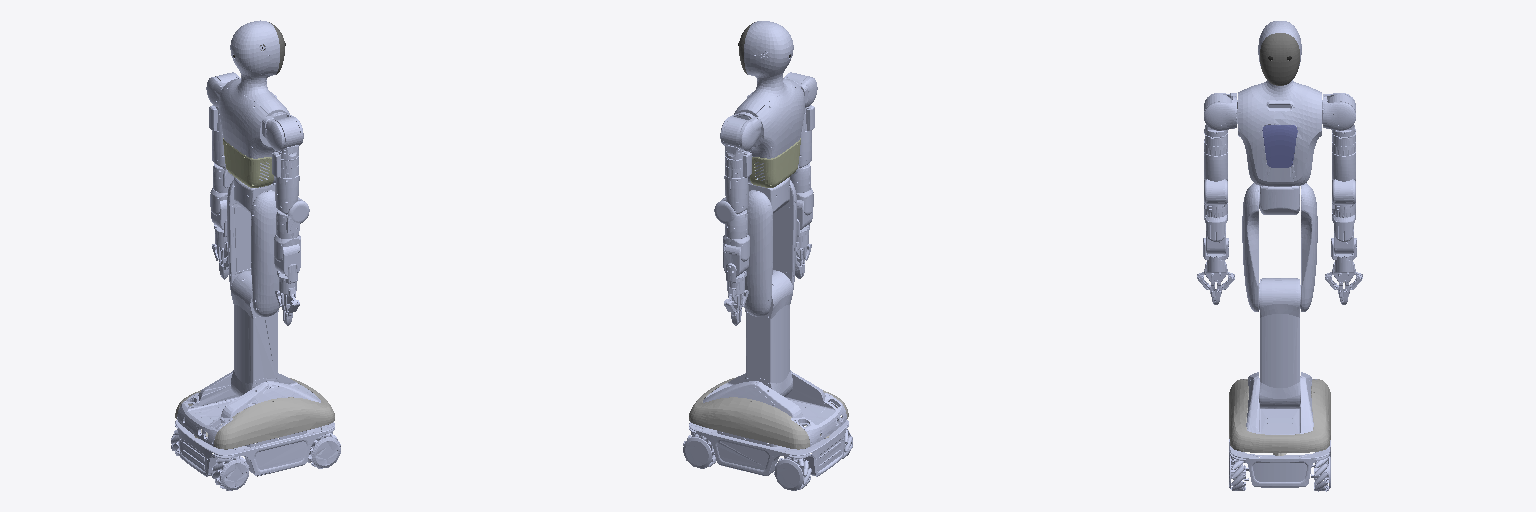
--- What the picture shows (computed from the rendered views, not written in the file) ---
3 views of the same robot in one strip: view 1: azimuth 30°, elevation 25°; view 2: azimuth 150°, elevation 25°; view 3: azimuth 270°, elevation 25° (orthographic).
Robot: autolife_spherized — 46 links, 45 joints (18 revolute, 27 fixed); root link Link_Zero_Point; default pose: all joints at 0.
Visible links, largest first — view 1: Link_Ground_Vehicle_Z, Link_Waist_Yaw_to_Shoulder_Inner, Link_Ankle_to_Knee, Link_Ground_Vehicle_Visual_Cover, Link_Knee_to_Waist_Pitch, Link_Knee_Black_Cover, Link_Chest_Back_Cover, Link_Right_Shoulder_Outer_to_UpperArm, Link_Right_UpperArm_to_Elbow, Link_Right_Elbow_to_Forearm, Link_Right_Shoulder_Inner_to_Shoulder_Outer, Link_Waist_Pitch_to_Waist_Yaw; view 2: Link_Ground_Vehicle_Z, Link_Waist_Yaw_to_Shoulder_Inner, Link_Ankle_to_Knee, Link_Ground_Vehicle_Visual_Cover, Link_Knee_to_Waist_Pitch, Link_Knee_Black_Cover, Link_Chest_Back_Cover, Link_Left_Shoulder_Outer_to_UpperArm, Link_Left_UpperArm_to_Elbow, Link_Left_Elbow_to_Forearm, Link_Left_Shoulder_Inner_to_Shoulder_Outer, Link_Waist_Pitch_to_Waist_Yaw; view 3: Link_Waist_Yaw_to_Shoulder_Inner, Link_Ground_Vehicle_Z, Link_Ankle_to_Knee, Link_Ground_Vehicle_Visual_Cover, Link_Knee_to_Waist_Pitch, Link_Mask, Link_Chest_Front_Cover, Link_Left_UpperArm_to_Elbow, Link_Right_UpperArm_to_Elbow, Link_Waist_Pitch_to_Waist_Yaw, Link_Right_Shoulder_Inner_to_Shoulder_Outer, Link_Left_Shoulder_Inner_to_Shoulder_Outer (+4 smaller).
Boxes of the visible links, <box> form: Link_Ground_Vehicle_Z: <box>171,371,340,490</box>; Link_Waist_Yaw_to_Shoulder_Inner: <box>219,20,289,183</box>; Link_Ankle_to_Knee: <box>231,270,279,396</box>; Link_Ground_Vehicle_Visual_Cover: <box>175,378,334,449</box>; Link_Knee_to_Waist_Pitch: <box>227,184,279,316</box>; Link_Knee_Black_Cover: <box>227,180,272,316</box>; Link_Chest_Back_Cover: <box>223,138,273,187</box>; Link_Right_Shoulder_Outer_to_UpperArm: <box>272,117,300,177</box>; Link_Right_UpperArm_to_Elbow: <box>275,156,304,214</box>; Link_Right_Elbow_to_Forearm: <box>276,201,309,238</box>; Link_Right_Shoulder_Inner_to_Shoulder_Outer: <box>262,112,303,150</box>; Link_Waist_Pitch_to_Waist_Yaw: <box>234,176,275,213</box>; Link_Ground_Vehicle_Z: <box>683,371,852,490</box>; Link_Waist_Yaw_to_Shoulder_Inner: <box>734,21,804,183</box>; Link_Ankle_to_Knee: <box>745,270,792,396</box>; Link_Ground_Vehicle_Visual_Cover: <box>689,377,848,449</box>; Link_Knee_to_Waist_Pitch: <box>744,184,796,316</box>; Link_Knee_Black_Cover: <box>751,180,796,316</box>; Link_Chest_Back_Cover: <box>750,138,800,187</box>; Link_Left_Shoulder_Outer_to_UpperArm: <box>723,117,751,177</box>; Link_Left_UpperArm_to_Elbow: <box>721,156,748,214</box>; Link_Left_Elbow_to_Forearm: <box>714,201,747,238</box>; Link_Left_Shoulder_Inner_to_Shoulder_Outer: <box>720,112,761,150</box>; Link_Waist_Pitch_to_Waist_Yaw: <box>748,176,789,213</box>; Link_Waist_Yaw_to_Shoulder_Inner: <box>1238,21,1321,186</box>; Link_Ground_Vehicle_Z: <box>1229,372,1330,491</box>; Link_Ankle_to_Knee: <box>1260,278,1300,408</box>; Link_Ground_Vehicle_Visual_Cover: <box>1229,379,1330,452</box>; Link_Knee_to_Waist_Pitch: <box>1242,183,1317,311</box>; Link_Mask: <box>1260,33,1299,85</box>; Link_Chest_Front_Cover: <box>1262,125,1297,167</box>; Link_Left_UpperArm_to_Elbow: <box>1332,132,1355,204</box>; Link_Right_UpperArm_to_Elbow: <box>1204,133,1227,204</box>; Link_Waist_Pitch_to_Waist_Yaw: <box>1260,186,1299,214</box>; Link_Right_Shoulder_Inner_to_Shoulder_Outer: <box>1204,93,1237,130</box>; Link_Left_Shoulder_Inner_to_Shoulder_Outer: <box>1322,93,1355,130</box>.
Bounding box of the posed robot: 0.5002 × 0.56 × 1.66 m (x, y, z).
44 mesh visuals loaded from 45 distinct referenced files (44 binary STL); not drawn: 1 (reference not matched to a file when rendering).

The robot description file, URDF, robot "autolife_spherized":
<?xml version="1.0" encoding="utf-8"?>
<robot name="autolife_spherized" path="autolife.urdf">
	<link name="Link_Zero_Point">
		<inertial>
			<origin xyz="0 0 0" rpy="0 0 0"></origin>
			<mass value="0.01"></mass>
			<inertia ixx="1.0471975511966E-12" ixy="-6.89317177127524E-27" ixz="6.3476295512101E-43" iyy="1.04719755119686E-12" iyz="3.20601193725648E-29" izz="1.57079632679516E-12"></inertia>
		</inertial>
	</link>
	<link name="Link_Ground_Vehicle_Z">
		<inertial>
			<origin xyz="0.000400870897858022 0.109142664548612 0.0147192660471476" rpy="0 0 0"></origin>
			<mass value="26.3816730805344"></mass>
			<inertia ixx="0.00775765841261898" ixy="-1.2335090405042E-05" ixz="2.90755207854229E-06" iyy="0.0119705159502724" iyz="-0.000230536877947004" izz="0.00857382205336638"></inertia>
		</inertial>
		<visual>
			<origin xyz="0 0 0" rpy="0 0 0"></origin>
			<geometry>
				<mesh filename="package://meshes/Link_Ground_Vehicle_Z.STL"></mesh>
			</geometry>
			<material name="">
				<color rgba="0.792156862745098 0.819607843137255 0.933333333333333 1"></color>
			</material>
		</visual>
		<collision>
			<geometry>
				<sphere radius="0.172499"></sphere>
			</geometry>
			<origin xyz="-0.11830313381965642 0.10558909257071028 0.10777015354302975" rpy="0 0 0"></origin>
		</collision>
		<collision>
			<geometry>
				<sphere radius="0.199984"></sphere>
			</geometry>
			<origin xyz="-0.038572133819656414 0.1731800925707103 -0.05936584645697025" rpy="0 0 0"></origin>
		</collision>
		<collision>
			<geometry>
				<sphere radius="0.126008"></sphere>
			</geometry>
			<origin xyz="0.1386408661803436 0.06054909257071028 -0.17501284645697024" rpy="0 0 0"></origin>
		</collision>
		<collision>
			<geometry>
				<sphere radius="0.210081"></sphere>
			</geometry>
			<origin xyz="-0.04717313381965642 0.1357350925707103 -0.13450684645697025" rpy="0 0 0"></origin>
		</collision>
		<collision>
			<geometry>
				<sphere radius="0.205008"></sphere>
			</geometry>
			<origin xyz="0.04082286618034359 0.1384140925707103 0.15917015354302974" rpy="0 0 0"></origin>
		</collision>
		<collision>
			<geometry>
				<sphere radius="0.193729"></sphere>
			</geometry>
			<origin xyz="-0.030230133819656415 0.1535900925707103 0.13277415354302974" rpy="0 0 0"></origin>
		</collision>
		<collision>
			<geometry>
				<sphere radius="0.13171"></sphere>
			</geometry>
			<origin xyz="0.057015866180343586 0.2358720925707103 0.012051153543029748" rpy="0 0 0"></origin>
		</collision>
		<collision>
			<geometry>
				<sphere radius="0.130365"></sphere>
			</geometry>
			<origin xyz="0.1486658661803436 0.09779109257071028 0.021531153543029747" rpy="0 0 0"></origin>
		</collision>
	</link>
	<link name="Link_Ankle_to_Knee">
		<inertial>
			<origin xyz="0.172566218012948 0.000537114400601479 -0.00912227769136287" rpy="0 0 0"></origin>
			<mass value="3"></mass>
			<inertia ixx="0.00282056539078239" ixy="7.97626589078161E-06" ixz="9.37318496690752E-05" iyy="0.0243242982709916" iyz="4.97919456103667E-05" izz="0.0234239709963532"></inertia>
		</inertial>
		<visual>
			<origin xyz="0 0 0" rpy="0 0 0"></origin>
			<geometry>
				<mesh filename="package://meshes/Link_Ankle_to_Knee.STL"></mesh>
			</geometry>
			<material name="">
				<color rgba="0.792156862745098 0.819607843137255 0.933333333333333 1"></color>
			</material>
		</visual>
		<collision>
			<geometry>
				<sphere radius="0.116849"></sphere>
			</geometry>
			<origin xyz="-0.0012953579149388994 0.0006147284879882409 -0.0012782369390911888" rpy="0 0 0"></origin>
		</collision>
		<collision>
			<geometry>
				<sphere radius="0.115303"></sphere>
			</geometry>
			<origin xyz="0.3548516420850611 0.001753728487988241 0.0012337630609088111" rpy="0 0 0"></origin>
		</collision>
		<collision>
			<geometry>
				<sphere radius="0.117349"></sphere>
			</geometry>
			<origin xyz="0.1836656420850611 -0.0006532715120117591 -0.002099236939091189" rpy="0 0 0"></origin>
		</collision>
		<collision>
			<geometry>
				<sphere radius="0.119504"></sphere>
			</geometry>
			<origin xyz="0.1264186420850611 -0.0006772715120117591 0.0006017630609088109" rpy="0 0 0"></origin>
		</collision>
		<collision>
			<geometry>
				<sphere radius="0.118604"></sphere>
			</geometry>
			<origin xyz="0.05254964208506109 -0.0001522715120117591 -0.0048442369390911885" rpy="0 0 0"></origin>
		</collision>
		<collision>
			<geometry>
				<sphere radius="0.112889"></sphere>
			</geometry>
			<origin xyz="0.2406726420850611 0.004826728487988241 0.01705576306090881" rpy="0 0 0"></origin>
		</collision>
		<collision>
			<geometry>
				<sphere radius="0.115344"></sphere>
			</geometry>
			<origin xyz="0.27326064208506107 0.0004497284879882409 -0.01434023693909119" rpy="0 0 0"></origin>
		</collision>
		<collision>
			<geometry>
				<sphere radius="0.116372"></sphere>
			</geometry>
			<origin xyz="0.33269464208506105 0.0012647284879882409 0.00038276306090881135" rpy="0 0 0"></origin>
		</collision>
	</link>
	<link name="Link_Knee_to_Waist_Pitch">
		<inertial>
			<origin xyz="0.190516175511759 0.00160329740526043 0.0308179543107181" rpy="0 0 0"></origin>
			<mass value="2"></mass>
			<inertia ixx="0.000958495389194447" ixy="-0.000157190432853224" ixz="4.07646396563268E-07" iyy="0.0115279594031608" iyz="-6.27935755551994E-08" izz="0.0122760868634565"></inertia>
		</inertial>
		<visual>
			<origin xyz="0 0 0" rpy="0 0 0"></origin>
			<geometry>
				<mesh filename="package://meshes/Link_Knee_to_Waist_Pitch.STL"></mesh>
			</geometry>
			<material name="">
				<color rgba="0.792156862745098 0.819607843137255 0.933333333333333 1"></color>
			</material>
		</visual>
		<collision>
			<geometry>
				<sphere radius="0.079998"></sphere>
			</geometry>
			<origin xyz="0.34950578403984334 -0.00013761735033174629 0.09621015811629044" rpy="0 0 0"></origin>
		</collision>
		<collision>
			<geometry>
				<sphere radius="0.098361"></sphere>
			</geometry>
			<origin xyz="0.32762478403984335 0.0014323826496682537 -0.07324784188370957" rpy="0 0 0"></origin>
		</collision>
		<collision>
			<geometry>
				<sphere radius="0.088092"></sphere>
			</geometry>
			<origin xyz="0.02713778403984335 -0.0056636173503317455 -0.06581784188370957" rpy="0 0 0"></origin>
		</collision>
		<collision>
			<geometry>
				<sphere radius="0.086117"></sphere>
			</geometry>
			<origin xyz="0.10170878403984336 -0.0007036173503317464 0.09655615811629044" rpy="0 0 0"></origin>
		</collision>
		<collision>
			<geometry>
				<sphere radius="0.081067"></sphere>
			</geometry>
			<origin xyz="0.22857178403984335 -0.005832617350331746 -0.10695684188370956" rpy="0 0 0"></origin>
		</collision>
		<collision>
			<geometry>
				<sphere radius="0.076283"></sphere>
			</geometry>
			<origin xyz="0.015006784039843346 -0.007514617350331746 0.09231515811629043" rpy="0 0 0"></origin>
		</collision>
		<collision>
			<geometry>
				<sphere radius="0.099164"></sphere>
			</geometry>
			<origin xyz="0.22593678403984335 0.014321382649668254 0.09869015811629044" rpy="0 0 0"></origin>
		</collision>
		<collision>
			<geometry>
				<sphere radius="0.093204"></sphere>
			</geometry>
			<origin xyz="0.13177378403984336 0.0035563826496682535 -0.06742884188370957" rpy="0 0 0"></origin>
		</collision>
	</link>
	<link name="Link_Waist_Pitch_to_Waist_Yaw">
		<inertial>
			<origin xyz="0.0152074286340818 -0.000372613686719527 0.00044493341050468" rpy="0 0 0"></origin>
			<mass value="3"></mass>
			<inertia ixx="0.00059017216172053" ixy="-3.01831260181909E-06" ixz="5.48538135378066E-06" iyy="0.000866684105629655" iyz="8.73802440668745E-07" izz="0.000589200767126788"></inertia>
		</inertial>
		<visual>
			<origin xyz="0 0 0" rpy="0 0 0"></origin>
			<geometry>
				<mesh filename="package://meshes/Link_Waist_Pitch_to_Waist_Yaw.STL"></mesh>
			</geometry>
			<material name="">
				<color rgba="0.792156862745098 0.819607843137255 0.933333333333333 1"></color>
			</material>
		</visual>
		<collision>
			<geometry>
				<sphere radius="0.068732"></sphere>
			</geometry>
			<origin xyz="0.026306810477171167 -0.015406835109746074 0.023735304861708783" rpy="0 0 0"></origin>
		</collision>
		<collision>
			<geometry>
				<sphere radius="0.064651"></sphere>
			</geometry>
			<origin xyz="0.030874810477171166 -0.026591835109746075 -0.0004066951382912175" rpy="0 0 0"></origin>
		</collision>
		<collision>
			<geometry>
				<sphere radius="0.066208"></sphere>
			</geometry>
			<origin xyz="0.027107810477171167 0.022997164890253927 0.019006304861708782" rpy="0 0 0"></origin>
		</collision>
		<collision>
			<geometry>
				<sphere radius="0.074482"></sphere>
			</geometry>
			<origin xyz="0.018203810477171168 0.021394164890253926 -0.019338695138291218" rpy="0 0 0"></origin>
		</collision>
		<collision>
			<geometry>
				<sphere radius="0.079875"></sphere>
			</geometry>
			<origin xyz="0.011881810477171167 -0.018325835109746075 -0.015402695138291218" rpy="0 0 0"></origin>
		</collision>
		<collision>
			<geometry>
				<sphere radius="0.067066"></sphere>
			</geometry>
			<origin xyz="-0.01863118952282883 -0.009024835109746075 0.017134304861708784" rpy="0 0 0"></origin>
		</collision>
		<collision>
			<geometry>
				<sphere radius="0.068044"></sphere>
			</geometry>
			<origin xyz="-0.02063618952282883 0.0027031648902539254 -0.017918695138291217" rpy="0 0 0"></origin>
		</collision>
		<collision>
			<geometry>
				<sphere radius="0.066473"></sphere>
			</geometry>
			<origin xyz="-0.011283189522828831 0.018277164890253925 0.018118304861708782" rpy="0 0 0"></origin>
		</collision>
	</link>
	<link name="Link_Waist_Yaw_to_Shoulder_Inner">
		<inertial>
			<origin xyz="-0.00357443973349267 0.000167612086857727 0.210203734680231" rpy="0 0 0"></origin>
			<mass value="8"></mass>
			<inertia ixx="0.029899659677621" ixy="1.04916920327859E-05" ixz="0.00382797872117665" iyy="0.0250140583387209" iyz="-5.26315732752239E-05" izz="0.00904894088047657"></inertia>
		</inertial>
		<visual>
			<origin xyz="0 0 0" rpy="0 0 0"></origin>
			<geometry>
				<mesh filename="package://meshes/Link_Waist_Yaw_to_Shoulder_Inner.STL"></mesh>
			</geometry>
			<material name="">
				<color rgba="0.792156862745098 0.819607843137255 0.933333333333333 1"></color>
			</material>
		</visual>
		<collision>
			<geometry>
				<sphere radius="0.103716"></sphere>
			</geometry>
			<origin xyz="-0.013231256024765454 0.0035902104717378805 0.5288895566555278" rpy="0 0 0"></origin>
		</collision>
		<collision>
			<geometry>
				<sphere radius="0.131559"></sphere>
			</geometry>
			<origin xyz="0.020199743975234545 0.0017892104717378804 0.08856055665552787" rpy="0 0 0"></origin>
		</collision>
		<collision>
			<geometry>
				<sphere radius="0.135913"></sphere>
			</geometry>
			<origin xyz="-0.0028842560247654535 -0.05130778952826212 0.22430055665552784" rpy="0 0 0"></origin>
		</collision>
		<collision>
			<geometry>
				<sphere radius="0.121979"></sphere>
			</geometry>
			<origin xyz="-0.024767256024765455 -0.01521078952826212 0.48312255665552784" rpy="0 0 0"></origin>
		</collision>
		<collision>
			<geometry>
				<sphere radius="0.137586"></sphere>
			</geometry>
			<origin xyz="-0.003981256024765454 0.05015621047173788 0.22394655665552787" rpy="0 0 0"></origin>
		</collision>
		<collision>
			<geometry>
				<sphere radius="0.079736"></sphere>
			</geometry>
			<origin xyz="0.056751743975234546 0.08606321047173789 0.11837355665552785" rpy="0 0 0"></origin>
		</collision>
		<collision>
			<geometry>
				<sphere radius="0.103975"></sphere>
			</geometry>
			<origin xyz="0.0030917439752345464 0.00894921047173788 0.3867775566555278" rpy="0 0 0"></origin>
		</collision>
		<collision>
			<geometry>
				<sphere radius="0.130265"></sphere>
			</geometry>
			<origin xyz="0.012695743975234547 -0.04613778952826212 0.14933555665552786" rpy="0 0 0"></origin>
		</collision>
	</link>
	<link name="Link_Left_Shoulder_Inner_to_Shoulder_Outer">
		<inertial>
			<origin xyz="-0.000617503609231501 0.000337151611778941 0.041930917262553" rpy="0 0 0"></origin>
			<mass value="2"></mass>
			<inertia ixx="0.000317942614144699" ixy="-4.37586341691817E-06" ixz="-4.62836387627398E-06" iyy="0.00033024767989875" iyz="5.48084290151384E-06" izz="0.000257578010843229"></inertia>
		</inertial>
		<visual>
			<origin xyz="0 0 0" rpy="0 0 0"></origin>
			<geometry>
				<mesh filename="package://meshes/Link_Left_Shoulder_Inner_to_Shoulder_Outer.STL"></mesh>
			</geometry>
			<material name="">
				<color rgba="0.792156862745098 0.819607843137255 0.933333333333333 1"></color>
			</material>
		</visual>
		<collision>
			<geometry>
				<sphere radius="0.063574"></sphere>
			</geometry>
			<origin xyz="-0.029397808853346787 5.41314824587314e-05 0.07682779002923042" rpy="0 0 0"></origin>
		</collision>
		<collision>
			<geometry>
				<sphere radius="0.049895"></sphere>
			</geometry>
			<origin xyz="-0.038034808853346785 0.01885513148245873 0.06253379002923042" rpy="0 0 0"></origin>
		</collision>
		<collision>
			<geometry>
				<sphere radius="0.05741"></sphere>
			</geometry>
			<origin xyz="-0.028987808853346786 -0.015409868517541269 0.03637979002923042" rpy="0 0 0"></origin>
		</collision>
		<collision>
			<geometry>
				<sphere radius="0.061299"></sphere>
			</geometry>
			<origin xyz="-0.010037808853346788 0.013480131482458732 0.021404790029230417" rpy="0 0 0"></origin>
		</collision>
		<collision>
			<geometry>
				<sphere radius="0.067919"></sphere>
			</geometry>
			<origin xyz="0.002079191146653213 -0.01181286851754127 0.024495790029230413" rpy="0 0 0"></origin>
		</collision>
		<collision>
			<geometry>
				<sphere radius="0.072145"></sphere>
			</geometry>
			<origin xyz="0.009571191146653214 0.0009171314824587315 0.03516079002923042" rpy="0 0 0"></origin>
		</collision>
		<collision>
			<geometry>
				<sphere radius="0.07317"></sphere>
			</geometry>
			<origin xyz="0.011205191146653214 -0.0009088685175412685 0.06727779002923041" rpy="0 0 0"></origin>
		</collision>
		<collision>
			<geometry>
				<sphere radius="0.051352"></sphere>
			</geometry>
			<origin xyz="0.030996191146653217 0.014737131482458731 0.08825879002923041" rpy="0 0 0"></origin>
		</collision>
	</link>
	<link name="Link_Left_Shoulder_Outer_to_UpperArm">
		<inertial>
			<origin xyz="0.027453771294637 0.00492656911979178 -0.0324567233905465" rpy="0 0 0"></origin>
			<mass value="2"></mass>
			<inertia ixx="0.000214042217134073" ixy="-1.11365520673853E-05" ixz="2.20630090176925E-06" iyy="0.000214385650493547" iyz="1.92514857571144E-06" izz="0.000358027948278359"></inertia>
		</inertial>
		<visual>
			<origin xyz="0 0 0" rpy="0 0 0"></origin>
			<geometry>
				<mesh filename="package://meshes/Link_Left_Shoulder_Outer_to_UpperArm.STL"></mesh>
			</geometry>
			<material name="">
				<color rgba="0.792156862745098 0.819607843137255 0.933333333333333 1"></color>
			</material>
		</visual>
		<collision>
			<geometry>
				<sphere radius="0.058896"></sphere>
			</geometry>
			<origin xyz="0.11165603642522809 0.011357453808358571 -0.037646048766999056" rpy="0 0 0"></origin>
		</collision>
		<collision>
			<geometry>
				<sphere radius="0.049681"></sphere>
			</geometry>
			<origin xyz="0.010025036425228097 0.01881945380835857 -0.029554048766999057" rpy="0 0 0"></origin>
		</collision>
		<collision>
			<geometry>
				<sphere radius="0.055464"></sphere>
			</geometry>
			<origin xyz="-0.01876796357477191 0.004367453808358571 -0.029654048766999057" rpy="0 0 0"></origin>
		</collision>
		<collision>
			<geometry>
				<sphere radius="0.044751"></sphere>
			</geometry>
			<origin xyz="0.1029340364252281 0.011757453808358572 -0.05522904876699906" rpy="0 0 0"></origin>
		</collision>
		<collision>
			<geometry>
				<sphere radius="0.053632"></sphere>
			</geometry>
			<origin xyz="0.06012103642522809 0.017401453808358572 -0.032371048766999054" rpy="0 0 0"></origin>
		</collision>
		<collision>
			<geometry>
				<sphere radius="0.050685"></sphere>
			</geometry>
			<origin xyz="-0.0068719635747719054 -0.01865054619164143 -0.029298048766999058" rpy="0 0 0"></origin>
		</collision>
		<collision>
			<geometry>
				<sphere radius="0.030168"></sphere>
			</geometry>
			<origin xyz="0.13373203642522807 0.018147453808358572 -0.0013950487669990574" rpy="0 0 0"></origin>
		</collision>
		<collision>
			<geometry>
				<sphere radius="0.050418"></sphere>
			</geometry>
			<origin xyz="0.03190903642522809 -0.010091546191641428 -0.02853204876699906" rpy="0 0 0"></origin>
		</collision>
	</link>
	<link name="Link_Left_UpperArm_to_Elbow">
		<inertial>
			<origin xyz="0.00283794982263701 0.00105392837504717 0.0547329007335405" rpy="0 0 0"></origin>
			<mass value="2"></mass>
			<inertia ixx="0.000393121104257055" ixy="-8.75799848864167E-06" ixz="-3.96258342292467E-06" iyy="0.000395853021852877" iyz="-1.34021046685226E-05" izz="0.000299792811027195"></inertia>
		</inertial>
		<visual>
			<origin xyz="0 0 0" rpy="0 0 0"></origin>
			<geometry>
				<mesh filename="package://meshes/Link_Left_UpperArm_to_Elbow.STL"></mesh>
			</geometry>
			<material name="">
				<color rgba="0.792156862745098 0.819607843137255 0.933333333333333 1"></color>
			</material>
		</visual>
		<collision>
			<geometry>
				<sphere radius="0.057462"></sphere>
			</geometry>
			<origin xyz="-0.0005613954370025636 0.0009237104254278111 0.03743296442747145" rpy="0 0 0"></origin>
		</collision>
		<collision>
			<geometry>
				<sphere radius="0.053253"></sphere>
			</geometry>
			<origin xyz="-0.0016393954370025627 -0.0009042895745721888 -0.010349035572528545" rpy="0 0 0"></origin>
		</collision>
		<collision>
			<geometry>
				<sphere radius="0.057049"></sphere>
			</geometry>
			<origin xyz="-0.0004813954370025634 2.3710425427811172e-05 0.09188196442747146" rpy="0 0 0"></origin>
		</collision>
		<collision>
			<geometry>
				<sphere radius="0.052786"></sphere>
			</geometry>
			<origin xyz="0.027108604562997435 0.001907710425427811 0.18197196442747143" rpy="0 0 0"></origin>
		</collision>
		<collision>
			<geometry>
				<sphere radius="0.058968"></sphere>
			</geometry>
			<origin xyz="0.006342604562997437 0.0004857104254278111 0.12924596442747144" rpy="0 0 0"></origin>
		</collision>
		<collision>
			<geometry>
				<sphere radius="0.055944"></sphere>
			</geometry>
			<origin xyz="0.014257604562997437 0.0005887104254278111 0.16293896442747147" rpy="0 0 0"></origin>
		</collision>
		<collision>
			<geometry>
				<sphere radius="0.042576"></sphere>
			</geometry>
			<origin xyz="-0.008729395437002564 -0.00789328957457219 0.14964196442747146" rpy="0 0 0"></origin>
		</collision>
		<collision>
			<geometry>
				<sphere radius="0.049773"></sphere>
			</geometry>
			<origin xyz="-0.004265395437002564 0.002170710425427811 0.14716196442747145" rpy="0 0 0"></origin>
		</collision>
	</link>
	<link name="Link_Left_Elbow_to_Forearm">
		<inertial>
			<origin xyz="0.0549465992217473 -0.0216756135999627 -0.0245947302614916" rpy="0 0 0"></origin>
			<mass value="2"></mass>
			<inertia ixx="0.000127911799616732" ixy="2.3810625065098E-05" ixz="1.03498654475136E-05" iyy="0.000147030754345232" iyz="-3.53363506350729E-06" izz="0.000184937879209279"></inertia>
		</inertial>
		<visual>
			<origin xyz="0 0 0" rpy="0 0 0"></origin>
			<geometry>
				<mesh filename="package://meshes/Link_Left_Elbow_to_Forearm.STL"></mesh>
			</geometry>
			<material name="">
				<color rgba="0.792156862745098 0.819607843137255 0.933333333333333 1"></color>
			</material>
		</visual>
		<collision>
			<geometry>
				<sphere radius="0.06463"></sphere>
			</geometry>
			<origin xyz="0.015142389806970614 -0.010812618480873927 -0.01930016314306575" rpy="0 0 0"></origin>
		</collision>
		<collision>
			<geometry>
				<sphere radius="0.041849"></sphere>
			</geometry>
			<origin xyz="-0.009514610193029384 0.008074381519126074 -0.058173163143065754" rpy="0 0 0"></origin>
		</collision>
		<collision>
			<geometry>
				<sphere radius="0.053359"></sphere>
			</geometry>
			<origin xyz="-4.5610193029385626e-05 -0.011679618480873927 -0.04909216314306575" rpy="0 0 0"></origin>
		</collision>
		<collision>
			<geometry>
				<sphere radius="0.044175"></sphere>
			</geometry>
			<origin xyz="-0.011935610193029383 0.007240381519126073 -0.000261163143065752" rpy="0 0 0"></origin>
		</collision>
		<collision>
			<geometry>
				<sphere radius="0.062671"></sphere>
			</geometry>
			<origin xyz="0.057985389806970614 -0.027250618480873928 -0.023529163143065752" rpy="0 0 0"></origin>
		</collision>
		<collision>
			<geometry>
				<sphere radius="0.030015"></sphere>
			</geometry>
			<origin xyz="0.008500389806970616 0.024534381519126076 -0.06702416314306575" rpy="0 0 0"></origin>
		</collision>
		<collision>
			<geometry>
				<sphere radius="0.057755"></sphere>
			</geometry>
			<origin xyz="0.024458389806970616 -0.017083618480873926 -0.04110016314306575" rpy="0 0 0"></origin>
		</collision>
		<collision>
			<geometry>
				<sphere radius="0.034395"></sphere>
			</geometry>
			<origin xyz="-0.011571610193029387 -0.028046618480873926 0.0056858368569342455" rpy="0 0 0"></origin>
		</collision>
	</link>
	<link name="Link_Left_Forearm_to_Wrist_Upper">
		<inertial>
			<origin xyz="0.0117316218483125 -3.69437686770224E-06 0.0184007744588988" rpy="0 0 0"></origin>
			<mass value="2"></mass>
			<inertia ixx="6.56522999630318E-05" ixy="3.29723529713842E-09" ixz="-5.7222681723475E-06" iyy="5.37807072488987E-05" iyz="-6.26393944850658E-09" izz="4.47545736054096E-05"></inertia>
		</inertial>
		<visual>
			<origin xyz="0 0 0" rpy="0 0 0"></origin>
			<geometry>
				<mesh filename="package://meshes/Link_Left_Forearm_to_Wrist_Upper.STL"></mesh>
			</geometry>
			<material name="">
				<color rgba="0.792156862745098 0.819607843137255 0.933333333333333 1"></color>
			</material>
		</visual>
		<collision>
			<geometry>
				<sphere radius="0.033399"></sphere>
			</geometry>
			<origin xyz="0.04014096650598872 -0.0002984368208591419 0.047553330991198586" rpy="0 0 0"></origin>
		</collision>
		<collision>
			<geometry>
				<sphere radius="0.036293"></sphere>
			</geometry>
			<origin xyz="0.025564966505988725 -0.021511436820859143 0.0031993309911985818" rpy="0 0 0"></origin>
		</collision>
		<collision>
			<geometry>
				<sphere radius="0.037921"></sphere>
			</geometry>
			<origin xyz="0.025536966505988724 0.024236563179140858 0.003327330991198585" rpy="0 0 0"></origin>
		</collision>
		<collision>
			<geometry>
				<sphere radius="0.032255"></sphere>
			</geometry>
			<origin xyz="-0.025693033494011277 0.024413563179140858 0.0029383309911985844" rpy="0 0 0"></origin>
		</collision>
		<collision>
			<geometry>
				<sphere radius="0.036137"></sphere>
			</geometry>
			<origin xyz="-0.026698033494011276 -0.023707436820859143 0.0035443309911985833" rpy="0 0 0"></origin>
		</collision>
		<collision>
			<geometry>
				<sphere radius="0.027497"></sphere>
			</geometry>
			<origin xyz="-0.03835403349401128 0.004857563179140858 0.0062133309911985846" rpy="0 0 0"></origin>
		</collision>
		<collision>
			<geometry>
				<sphere radius="0.030441"></sphere>
			</geometry>
			<origin xyz="-0.04357103349401128 -0.006879436820859142 0.05237733099119858" rpy="0 0 0"></origin>
		</collision>
		<collision>
			<geometry>
				<sphere radius="0.026535"></sphere>
			</geometry>
			<origin xyz="-0.04037203349401128 0.019250563179140857 0.05310033099119858" rpy="0 0 0"></origin>
		</collision>
	</link>
	<link name="Link_Left_Wrist_Upper_to_Wrist_Lower">
		<inertial>
			<origin xyz="0.0274706147902958 0.00306146003716865 -0.0287201081136689" rpy="0 0 0"></origin>
			<mass value="2"></mass>
			<inertia ixx="7.43980450322553E-05" ixy="-2.82930739790898E-06" ixz="1.6123049284515E-05" iyy="0.00012828611050118" iyz="2.54263802065241E-06" izz="0.000158264614221317"></inertia>
		</inertial>
		<visual>
			<origin xyz="0 0 0" rpy="0 0 0"></origin>
			<geometry>
				<mesh filename="package://meshes/Link_Left_Wrist_Upper_to_Wrist_Lower.STL"></mesh>
			</geometry>
			<material name="">
				<color rgba="0.792156862745098 0.819607843137255 0.933333333333333 1"></color>
			</material>
		</visual>
		<collision>
			<geometry>
				<sphere radius="0.042426"></sphere>
			</geometry>
			<origin xyz="0.0002933121810317803 -0.010497355079428514 -0.021179153279923486" rpy="0 0 0"></origin>
		</collision>
		<collision>
			<geometry>
				<sphere radius="0.043397"></sphere>
			</geometry>
			<origin xyz="-0.0032526878189682203 0.006855644920571486 -0.024400153279923488" rpy="0 0 0"></origin>
		</collision>
		<collision>
			<geometry>
				<sphere radius="0.045781"></sphere>
			</geometry>
			<origin xyz="-0.008684687818968216 -0.004683355079428513 -0.04172715327992349" rpy="0 0 0"></origin>
		</collision>
		<collision>
			<geometry>
				<sphere radius="0.046469"></sphere>
			</geometry>
			<origin xyz="0.018180312181031784 0.008935644920571487 -0.04136315327992349" rpy="0 0 0"></origin>
		</collision>
		<collision>
			<geometry>
				<sphere radius="0.042266"></sphere>
			</geometry>
			<origin xyz="0.030587312181031782 -0.008828355079428514 -0.041369153279923486" rpy="0 0 0"></origin>
		</collision>
		<collision>
			<geometry>
				<sphere radius="0.053583"></sphere>
			</geometry>
			<origin xyz="0.037018312181031784 0.00014764492057148677 -0.031392153279923486" rpy="0 0 0"></origin>
		</collision>
		<collision>
			<geometry>
				<sphere radius="0.045113"></sphere>
			</geometry>
			<origin xyz="0.059186312181031785 0.005891644920571487 -0.03344415327992349" rpy="0 0 0"></origin>
		</collision>
		<collision>
			<geometry>
				<sphere radius="0.043304"></sphere>
			</geometry>
			<origin xyz="0.06421931218103177 -0.008715355079428513 -0.03212915327992349" rpy="0 0 0"></origin>
		</collision>
	</link>
	<link name="Link_Left_Wrist_Lower_to_Gripper">
		<inertial>
			<origin xyz="0.0648741770844647 -0.000143597434240463 -0.027134195278571" rpy="0 0 0"></origin>
			<mass value="2"></mass>
			<inertia ixx="6.4292671396503E-05" ixy="-5.66441597276215E-08" ixz="8.15328654282781E-06" iyy="0.000103295646245639" iyz="-8.51386738848492E-08" izz="6.79418373823619E-05"></inertia>
		</inertial>
		<visual>
			<origin xyz="0 0 0" rpy="0 0 0"></origin>
			<geometry>
				<mesh filename="package://meshes/Link_Left_Wrist_Lower_to_Gripper.STL"></mesh>
			</geometry>
			<material name="">
				<color rgba="0.792156862745098 0.819607843137255 0.933333333333333 1"></color>
			</material>
		</visual>
		<collision>
			<geometry>
				<sphere radius="0.047354"></sphere>
			</geometry>
			<origin xyz="0.06831363167338639 -0.00024017062292559994 -0.03213560437081975" rpy="0 0 0"></origin>
		</collision>
		<collision>
			<geometry>
				<sphere radius="0.043503"></sphere>
			</geometry>
			<origin xyz="0.10100563167338639 -4.0170622925599954e-05 -0.03138760437081975" rpy="0 0 0"></origin>
		</collision>
		<collision>
			<geometry>
				<sphere radius="0.024141"></sphere>
			</geometry>
			<origin xyz="-0.0030933683266136103 -0.0060171706229256 -0.07266660437081975" rpy="0 0 0"></origin>
		</collision>
		<collision>
			<geometry>
				<sphere radius="0.024239"></sphere>
			</geometry>
			<origin xyz="-0.0006533683266136125 -0.0005561706229255999 0.005903395629180255" rpy="0 0 0"></origin>
		</collision>
		<collision>
			<geometry>
				<sphere radius="0.037238"></sphere>
			</geometry>
			<origin xyz="0.04418863167338639 -0.0046011706229256 -0.05665060437081975" rpy="0 0 0"></origin>
		</collision>
		<collision>
			<geometry>
				<sphere radius="0.027967"></sphere>
			</geometry>
			<origin xyz="0.020550631673386388 0.0007918293770744001 0.003917395629180254" rpy="0 0 0"></origin>
		</collision>
		<collision>
			<geometry>
				<sphere radius="0.022526"></sphere>
			</geometry>
			<origin xyz="0.0004846316733863876 0.0143418293770744 -0.07091260437081975" rpy="0 0 0"></origin>
		</collision>
		<collision>
			<geometry>
				<sphere radius="0.037396"></sphere>
			</geometry>
			<origin xyz="0.050131631673386384 -0.0019681706229256 -0.01620360437081975" rpy="0 0 0"></origin>
		</collision>
	</link>
	<link name="Link_Camera_Gripper_Left">
		<inertial>
			<origin xyz="0 -6.53598090210165E-05 -0.0062936548087732" rpy="0 0 0"></origin>
			<mass value="0.000689353299449198"></mass>
			<inertia ixx="1.52761574483593E-08" ixy="7.02761889738621E-43" ixz="-5.04870979341448E-26" iyy="1.50267886999145E-08" iyz="-2.75127488935958E-10" izz="7.39519392062991E-09"></inertia>
		</inertial>
		<visual>
			<origin xyz="0 0 0" rpy="0 0 0"></origin>
			<geometry>
				<mesh filename="package://meshes/Link_Camera_Gripper_Left.STL"></mesh>
			</geometry>
			<material name="">
				<color rgba="1 1 1 1"></color>
			</material>
		</visual>
		<collision>
			<geometry>
				<sphere radius="0.006367"></sphere>
			</geometry>
			<origin xyz="0.0 9.387731542652433e-11 -0.003941000093132257" rpy="0 0 0"></origin>
		</collision>
		<collision>
			<geometry>
				<sphere radius="0.007737"></sphere>
			</geometry>
			<origin xyz="2.5e-05 -0.0002339999061226844 -0.008531000093132258" rpy="0 0 0"></origin>
		</collision>
		<collision>
			<geometry>
				<sphere radius="0.004664"></sphere>
			</geometry>
			<origin xyz="0.0 -0.006936999906122685 -0.012001000093132257" rpy="0 0 0"></origin>
		</collision>
	</link>
	<link name="Link_Left_Gripper">
		<inertial>
			<origin xyz="0.0128216630537897 -0.0271636558972338 -0.0109999992497105" rpy="0 0 0"></origin>
			<mass value="0.019071611307144"></mass>
			<inertia ixx="4.37605332229106E-06" ixy="-7.97606854154892E-07" ixz="-6.31265013308784E-14" iyy="2.85906444595262E-06" iyz="-5.83897624438853E-14" izz="4.7709011928422E-06"></inertia>
		</inertial>
		<visual>
			<origin xyz="0 0 0" rpy="0 0 0"></origin>
			<geometry>
				<mesh filename="package://meshes/Link_Left_Gripper.STL"></mesh>
			</geometry>
			<material name="">
				<color rgba="0.792156862745098 0.819607843137255 0.933333333333333 1"></color>
			</material>
		</visual>
		<collision>
			<geometry>
				<sphere radius="0.015516"></sphere>
			</geometry>
			<origin xyz="-0.0032133594103305966 0.008297326582687607 -0.011191500131353555" rpy="0 0 0"></origin>
		</collision>
		<collision>
			<geometry>
				<sphere radius="0.016692"></sphere>
			</geometry>
			<origin xyz="0.007535640589669403 -0.007530673417312393 -0.010975500131353556" rpy="0 0 0"></origin>
		</collision>
		<collision>
			<geometry>
				<sphere radius="0.017648"></sphere>
			</geometry>
			<origin xyz="0.0208306405896694 -0.023261673417312393 -0.016137500131353556" rpy="0 0 0"></origin>
		</collision>
		<collision>
			<geometry>
				<sphere radius="0.016713"></sphere>
			</geometry>
			<origin xyz="0.011248640589669403 -0.041612673417312396 -0.019824500131353555" rpy="0 0 0"></origin>
		</collision>
		<collision>
			<geometry>
				<sphere radius="0.015117"></sphere>
			</geometry>
			<origin xyz="0.001749640589669402 -0.05626767341731239 -0.016688500131353555" rpy="0 0 0"></origin>
		</collision>
		<collision>
			<geometry>
				<sphere radius="0.014534"></sphere>
			</geometry>
			<origin xyz="0.0006816405896694026 -0.057790673417312394 -0.0018415001313535559" rpy="0 0 0"></origin>
		</collision>
		<collision>
			<geometry>
				<sphere radius="0.016054"></sphere>
			</geometry>
			<origin xyz="0.010623640589669402 -0.042027673417312394 -0.002750500131353556" rpy="0 0 0"></origin>
		</collision>
		<collision>
			<geometry>
				<sphere radius="0.017824"></sphere>
			</geometry>
			<origin xyz="0.020799640589669405 -0.023789673417312394 -0.005966500131353555" rpy="0 0 0"></origin>
		</collision>
	</link>
	<link name="Link_Left_Gripper_Left_Inner_Knuckle">
		<inertial>
			<origin xyz="-0.0014993883392225 -0.0291504043841675 -0.0109999999999989" rpy="0 0 0"></origin>
			<mass value="0.0102249515270339"></mass>
			<inertia ixx="4.39129754380158E-06" ixy="-1.27692143624081E-07" ixz="2.83960514374052E-21" iyy="1.74716935939326E-06" iyz="3.84591771392931E-20" izz="2.912047839001E-06"></inertia>
		</inertial>
		<visual>
			<origin xyz="0 0 0" rpy="0 0 0"></origin>
			<geometry>
				<mesh filename="package://meshes/Link_Left_Gripper_Left_Inner_Knuckle.STL"></mesh>
			</geometry>
			<material name="">
				<color rgba="0.792156862745098 0.819607843137255 0.933333333333333 1"></color>
			</material>
		</visual>
		<collision>
			<geometry>
				<sphere radius="0.012885"></sphere>
			</geometry>
			<origin xyz="-0.002230112842172384 -0.04059059930896759 -0.003083999940395356" rpy="0 0 0"></origin>
		</collision>
		<collision>
			<geometry>
				<sphere radius="0.009212"></sphere>
			</geometry>
			<origin xyz="-0.0008191128421723842 -0.002623599308967592 -0.025598999940395356" rpy="0 0 0"></origin>
		</collision>
		<collision>
			<geometry>
				<sphere radius="0.014234"></sphere>
			</geometry>
			<origin xyz="-0.0027471128421723843 -0.02349959930896759 0.002241000059604644" rpy="0 0 0"></origin>
		</collision>
		<collision>
			<geometry>
				<sphere radius="0.00996"></sphere>
			</geometry>
			<origin xyz="0.0011298871578276156 -0.003366599308967589 0.003600000059604645" rpy="0 0 0"></origin>
		</collision>
		<collision>
			<geometry>
				<sphere radius="0.00765"></sphere>
			</geometry>
			<origin xyz="-0.003249112842172384 -0.05569459930896759 0.0003890000596046446" rpy="0 0 0"></origin>
		</collision>
		<collision>
			<geometry>
				<sphere radius="0.009684"></sphere>
			</geometry>
			<origin xyz="-0.0018081128421723843 -0.05385559930896759 -0.021726999940395356" rpy="0 0 0"></origin>
		</collision>
		<collision>
			<geometry>
				<sphere radius="0.013507"></sphere>
			</geometry>
			<origin xyz="-0.0021531128421723843 -0.03815159930896759 -0.020649999940395354" rpy="0 0 0"></origin>
		</collision>
		<collision>
			<geometry>
				<sphere radius="0.011153"></sphere>
			</geometry>
			<origin xyz="-0.0007641128421723843 -0.018616599308967592 -0.025599999940395357" rpy="0 0 0"></origin>
		</collision>
	</link>
	<link name="Joint_Left_Gripper_Left_Finger">
		<inertial>
			<origin xyz="0.000641821702344197 -0.0211812400734594 -0.00789294723050178" rpy="0 0 0"></origin>
			<mass value="0.0195863673176325"></mass>
			<inertia ixx="3.21349935756281E-06" ixy="-3.31543812300713E-07" ixz="-6.14417448646314E-09" iyy="1.31949587109393E-06" iyz="-2.98355626473403E-08" izz="2.98254973033515E-06"></inertia>
		</inertial>
		<visual>
			<origin xyz="0 0 0" rpy="0 0 0"></origin>
			<geometry>
				<mesh filename="package://meshes/Joint_Left_Gripper_Left_Finger.STL"></mesh>
			</geometry>
			<material name="">
				<color rgba="0.792156862745098 0.819607843137255 0.933333333333333 1"></color>
			</material>
		</visual>
		<collision>
			<geometry>
				<sphere radius="0.016055"></sphere>
			</geometry>
			<origin xyz="0.0009897798933210886 -0.009450969941937792 -0.007719250204343891" rpy="0 0 0"></origin>
		</collision>
		<collision>
			<geometry>
				<sphere radius="0.012328"></sphere>
			</geometry>
			<origin xyz="0.015033779893321088 0.005441030058062207 -0.007619250204343892" rpy="0 0 0"></origin>
		</collision>
		<collision>
			<geometry>
				<sphere radius="0.014819"></sphere>
			</geometry>
			<origin xyz="-0.001785220106678911 -0.03174596994193779 -0.013389250204343891" rpy="0 0 0"></origin>
		</collision>
		<collision>
			<geometry>
				<sphere radius="0.015793"></sphere>
			</geometry>
			<origin xyz="-0.00041222010667891183 -0.01850796994193779 -0.0072252502043438915" rpy="0 0 0"></origin>
		</collision>
		<collision>
			<geometry>
				<sphere radius="0.014066"></sphere>
			</geometry>
			<origin xyz="-0.002041220106678912 -0.035260969941937795 -0.002870250204343891" rpy="0 0 0"></origin>
		</collision>
		<collision>
			<geometry>
				<sphere radius="0.013469"></sphere>
			</geometry>
			<origin xyz="-0.0033052201066789116 -0.04587096994193779 -0.008466250204343892" rpy="0 0 0"></origin>
		</collision>
		<collision>
			<geometry>
				<sphere radius="0.009927"></sphere>
			</geometry>
			<origin xyz="-0.0050952201066789115 -0.053563969941937795 -0.008300250204343891" rpy="0 0 0"></origin>
		</collision>
		<collision>
			<geometry>
				<sphere radius="0.013449"></sphere>
			</geometry>
			<origin xyz="0.004644779893321089 -0.00020096994193779041 -0.008198250204343891" rpy="0 0 0"></origin>
		</collision>
	</link>
	<link name="Link_Left_Gripper_Right_Outer_Knuckle">
		<inertial>
			<origin xyz="-0.0128216630537897 -0.0271636558972338 -0.0110000007502954" rpy="0 0 0"></origin>
			<mass value="0.0190716113071439"></mass>
			<inertia ixx="4.37605332229105E-06" ixy="7.97606854154892E-07" ixz="-6.31265543908738E-14" iyy="2.85906444595261E-06" iyz="5.8389891601347E-14" izz="4.77090119284218E-06"></inertia>
		</inertial>
		<visual>
			<origin xyz="0 0 0" rpy="0 0 0"></origin>
			<geometry>
				<mesh filename="package://meshes/Link_Left_Gripper_Right_Outer_Knuckle.STL"></mesh>
			</geometry>
			<material name="">
				<color rgba="0.792156862745098 0.819607843137255 0.933333333333333 1"></color>
			</material>
		</visual>
		<collision>
			<geometry>
				<sphere radius="0.020811"></sphere>
			</geometry>
			<origin xyz="-0.020990831568274304 -0.022731484284263397 -0.0150417471613487" rpy="0 0 0"></origin>
		</collision>
		<collision>
			<geometry>
				<sphere radius="0.01416"></sphere>
			</geometry>
			<origin xyz="-0.0034098315682743047 -0.0028724842842633956 -0.0111097471613487" rpy="0 0 0"></origin>
		</collision>
		<collision>
			<geometry>
				<sphere radius="0.020212"></sphere>
			</geometry>
			<origin xyz="-0.020996831568274303 -0.021774484284263398 -0.0075307471613487" rpy="0 0 0"></origin>
		</collision>
		<collision>
			<geometry>
				<sphere radius="0.013426"></sphere>
			</geometry>
			<origin xyz="0.003982168431725695 0.010152515715736603 -0.0113487471613487" rpy="0 0 0"></origin>
		</collision>
		<collision>
			<geometry>
				<sphere radius="0.01649"></sphere>
			</geometry>
			<origin xyz="-0.010841831568274306 -0.043555484284263396 -0.0036157471613487" rpy="0 0 0"></origin>
		</collision>
		<collision>
			<geometry>
				<sphere radius="0.016269"></sphere>
			</geometry>
			<origin xyz="-0.011084831568274304 -0.043215484284263396 -0.0190457471613487" rpy="0 0 0"></origin>
		</collision>
		<collision>
			<geometry>
				<sphere radius="0.014155"></sphere>
			</geometry>
			<origin xyz="-0.0016918315682743056 -0.0574494842842634 -0.0202707471613487" rpy="0 0 0"></origin>
		</collision>
		<collision>
			<geometry>
				<sphere radius="0.014061"></sphere>
			</geometry>
			<origin xyz="-0.0007848315682743058 -0.0578854842842634 -0.0021217471613487002" rpy="0 0 0"></origin>
		</collision>
	</link>
	<link name="Link_Left_Gripper_Right_Inner_Knuckle">
		<inertial>
			<origin xyz="0.00149938833922247 -0.0291504043841676 -0.0109999999999991" rpy="0 0 0"></origin>
			<mass value="0.0102249515270339"></mass>
			<inertia ixx="4.39129754380157E-06" ixy="1.27692143624082E-07" ixz="-6.57379537737095E-21" iyy="1.74716935939326E-06" iyz="3.88342247869938E-20" izz="2.912047839001E-06"></inertia>
		</inertial>
		<visual>
			<origin xyz="0 0 0" rpy="0 0 0"></origin>
			<geometry>
				<mesh filename="package://meshes/Link_Left_Gripper_Right_Inner_Knuckle.STL"></mesh>
			</geometry>
			<material name="">
				<color rgba="0.792156862745098 0.819607843137255 0.933333333333333 1"></color>
			</material>
		</visual>
		<collision>
			<geometry>
				<sphere radius="0.010462"></sphere>
			</geometry>
			<origin xyz="0.0011641128421723843 -0.003885599308967591 -0.025599999940395357" rpy="0 0 0"></origin>
		</collision>
		<collision>
			<geometry>
				<sphere radius="0.013451"></sphere>
			</geometry>
			<origin xyz="0.0002381128421723843 -0.02393359930896759 -0.024315999940395357" rpy="0 0 0"></origin>
		</collision>
		<collision>
			<geometry>
				<sphere radius="0.00984"></sphere>
			</geometry>
			<origin xyz="0.0021891128421723843 -0.03808459930896759 -0.020502999940395353" rpy="0 0 0"></origin>
		</collision>
		<collision>
			<geometry>
				<sphere radius="0.011874"></sphere>
			</geometry>
			<origin xyz="0.0029391128421723846 -0.05207859930896759 -0.019254999940395354" rpy="0 0 0"></origin>
		</collision>
		<collision>
			<geometry>
				<sphere radius="0.012464"></sphere>
			</geometry>
			<origin xyz="0.002086112842172384 -0.036956599308967594 -0.004292999940395355" rpy="0 0 0"></origin>
		</collision>
		<collision>
			<geometry>
				<sphere radius="0.011575"></sphere>
			</geometry>
			<origin xyz="0.0029651128421723846 -0.05254359930896759 -0.0030039999403953556" rpy="0 0 0"></origin>
		</collision>
		<collision>
			<geometry>
				<sphere radius="0.013168"></sphere>
			</geometry>
			<origin xyz="0.0032631128421723842 -0.02477459930896759 0.002345000059604644" rpy="0 0 0"></origin>
		</collision>
		<collision>
			<geometry>
				<sphere radius="0.010888"></sphere>
			</geometry>
			<origin xyz="-0.0010138871578276158 -0.00439459930896759 0.003600000059604645" rpy="0 0 0"></origin>
		</collision>
	</link>
	<link name="Link_Left_Gripper_Right_Finger">
		<inertial>
			<origin xyz="-0.000641821702329487 -0.0211812400734794 -0.00845231346592281" rpy="0 0 0"></origin>
			<mass value="0.0195863673176191"></mass>
			<inertia ixx="3.21349935756186E-06" ixy="3.31543812299975E-07" ixz="1.95020615891569E-08" iyy="1.31949587109184E-06" iyz="1.60026426812494E-08" izz="2.98254973033312E-06"></inertia>
		</inertial>
		<visual>
			<origin xyz="0 0 0" rpy="0 0 0"></origin>
			<geometry>
				<mesh filename="package://meshes/Link_Left_Gripper_Right_Finger.STL"></mesh>
			</geometry>
			<material name="">
				<color rgba="0.792156862745098 0.819607843137255 0.933333333333333 1"></color>
			</material>
		</visual>
		<collision>
			<geometry>
				<sphere radius="0.014697"></sphere>
			</geometry>
			<origin xyz="-0.010061107925602351 0.0020949684881981685 -0.008956751165943426" rpy="0 0 0"></origin>
		</collision>
		<collision>
			<geometry>
				<sphere radius="0.010833"></sphere>
			</geometry>
			<origin xyz="-0.016507107925602352 0.0056359684881981675 -0.007082751165943426" rpy="0 0 0"></origin>
		</collision>
		<collision>
			<geometry>
				<sphere radius="0.014339"></sphere>
			</geometry>
			<origin xyz="-0.0012971079256023513 -0.00626803151180183 -0.006196751165943426" rpy="0 0 0"></origin>
		</collision>
		<collision>
			<geometry>
				<sphere radius="0.016352"></sphere>
			</geometry>
			<origin xyz="-0.0012931079256023516 -0.01032903151180183 -0.011564751165943426" rpy="0 0 0"></origin>
		</collision>
		<collision>
			<geometry>
				<sphere radius="0.015204"></sphere>
			</geometry>
			<origin xyz="-0.0005601079256023515 -0.020590031511801832 -0.004633751165943426" rpy="0 0 0"></origin>
		</collision>
		<collision>
			<geometry>
				<sphere radius="0.015501"></sphere>
			</geometry>
			<origin xyz="0.0010988920743976484 -0.03324503151180183 -0.014414751165943426" rpy="0 0 0"></origin>
		</collision>
		<collision>
			<geometry>
				<sphere radius="0.014121"></sphere>
			</geometry>
			<origin xyz="0.0018778920743976486 -0.041423031511801836 -0.002675751165943426" rpy="0 0 0"></origin>
		</collision>
		<collision>
			<geometry>
				<sphere radius="0.012044"></sphere>
			</geometry>
			<origin xyz="0.0035768920743976477 -0.05140703151180183 -0.010486751165943426" rpy="0 0 0"></origin>
		</collision>
	</link>
	<link name="Link_Right_Shoulder_Inner_to_Shoulder_Outer">
		<inertial>
			<origin xyz="-0.000121386549671372 7.34583017103496E-06 0.0210155003115829" rpy="0 0 0"></origin>
			<mass value="2"></mass>
			<inertia ixx="0.000977756325769617" ixy="3.71069787552584E-06" ixz="-7.30302568317668E-06" iyy="0.000924173733869007" iyz="-1.4882338172485E-05" izz="0.000886081402292421"></inertia>
		</inertial>
		<visual>
			<origin xyz="0 0 0" rpy="0 0 0"></origin>
			<geometry>
				<mesh filename="package://meshes/Link_Right_Shoulder_Inner_to_Shoulder_Outer.STL"></mesh>
			</geometry>
			<material name="">
				<color rgba="0.792156862745098 0.819607843137255 0.933333333333333 1"></color>
			</material>
		</visual>
		<collision>
			<geometry>
				<sphere radius="0.074673"></sphere>
			</geometry>
			<origin xyz="-0.006000398464291471 0.0014397661067737434 -0.000919755514959382" rpy="0 0 0"></origin>
		</collision>
		<collision>
			<geometry>
				<sphere radius="0.074241"></sphere>
			</geometry>
			<origin xyz="-0.01843839846429147 0.00014276610677374345 0.06255124448504062" rpy="0 0 0"></origin>
		</collision>
		<collision>
			<geometry>
				<sphere radius="0.072834"></sphere>
			</geometry>
			<origin xyz="0.011664601535708528 0.0003707661067737434 0.06365724448504062" rpy="0 0 0"></origin>
		</collision>
	</link>
	<link name="Link_Right_Shoulder_Outer_to_UpperArm">
		<inertial>
			<origin xyz="0.0274539015712283 -0.00492677128569141 -0.0324569727055196" rpy="0 0 0"></origin>
			<mass value="2"></mass>
			<inertia ixx="0.000214042473591272" ixy="1.11365920380498E-05" ixz="2.20601709700472E-06" iyy="0.000214385832751345" iyz="-1.92165707841848E-06" izz="0.000358027748939643"></inertia>
		</inertial>
		<visual>
			<origin xyz="0 0 0" rpy="0 0 0"></origin>
			<geometry>
				<mesh filename="package://meshes/Link_Right_Shoulder_Outer_to_UpperArm.STL"></mesh>
			</geometry>
			<material name="">
				<color rgba="0.792156862745098 0.819607843137255 0.933333333333333 1"></color>
			</material>
		</visual>
		<collision>
			<geometry>
				<sphere radius="0.051464"></sphere>
			</geometry>
			<origin xyz="0.1151855527497045 -0.01543154868897961 -0.024622562625671245" rpy="0 0 0"></origin>
		</collision>
		<collision>
			<geometry>
				<sphere radius="0.055171"></sphere>
			</geometry>
			<origin xyz="0.1135785527497045 -0.0066035486889796085 -0.034114562625671245" rpy="0 0 0"></origin>
		</collision>
		<collision>
			<geometry>
				<sphere radius="0.050119"></sphere>
			</geometry>
			<origin xyz="0.10739055274970451 -0.01161554868897961 -0.05329156262567124" rpy="0 0 0"></origin>
		</collision>
		<collision>
			<geometry>
				<sphere radius="0.059879"></sphere>
			</geometry>
			<origin xyz="0.05760755274970451 -0.013820548688979608 -0.03343156262567124" rpy="0 0 0"></origin>
		</collision>
		<collision>
			<geometry>
				<sphere radius="0.054114"></sphere>
			</geometry>
			<origin xyz="-0.0010554472502954937 -0.01863354868897961 -0.029910562625671242" rpy="0 0 0"></origin>
		</collision>
		<collision>
			<geometry>
				<sphere radius="0.054027"></sphere>
			</geometry>
			<origin xyz="0.0029085527497045086 0.018512451311020393 -0.029471562625671244" rpy="0 0 0"></origin>
		</collision>
		<collision>
			<geometry>
				<sphere radius="0.055506"></sphere>
			</geometry>
			<origin xyz="-0.019219447250295493 -0.0034805486889796086 -0.029667562625671242" rpy="0 0 0"></origin>
		</collision>
	</link>
	<link name="Link_Right_UpperArm_to_Elbow">
		<inertial>
			<origin xyz="0.00283794988551719 0.00105392799054504 0.0547329013503048" rpy="0 0 0"></origin>
			<mass value="2"></mass>
			<inertia ixx="0.000393120911825715" ixy="-8.75795324587382E-06" ixz="-3.962514693899E-06" iyy="0.000395852843902946" iyz="-1.34020049734601E-05" izz="0.000299792728258983"></inertia>
		</inertial>
		<visual>
			<origin xyz="0 0 0" rpy="0 0 0"></origin>
			<geometry>
				<mesh filename="package://meshes/Link_Right_UpperArm_to_Elbow.STL"></mesh>
			</geometry>
			<material name="">
				<color rgba="0.792156862745098 0.819607843137255 0.933333333333333 1"></color>
			</material>
		</visual>
		<collision>
			<geometry>
				<sphere radius="0.057462"></sphere>
			</geometry>
			<origin xyz="-0.0005613954370025636 0.0009237104254278111 0.03743296442747145" rpy="0 0 0"></origin>
		</collision>
		<collision>
			<geometry>
				<sphere radius="0.053253"></sphere>
			</geometry>
			<origin xyz="-0.0016393954370025627 -0.0009042895745721888 -0.010349035572528545" rpy="0 0 0"></origin>
		</collision>
		<collision>
			<geometry>
				<sphere radius="0.057049"></sphere>
			</geometry>
			<origin xyz="-0.0004813954370025634 2.3710425427811172e-05 0.09188196442747146" rpy="0 0 0"></origin>
		</collision>
		<collision>
			<geometry>
				<sphere radius="0.052786"></sphere>
			</geometry>
			<origin xyz="0.027108604562997435 0.001907710425427811 0.18197196442747143" rpy="0 0 0"></origin>
		</collision>
		<collision>
			<geometry>
				<sphere radius="0.058968"></sphere>
			</geometry>
			<origin xyz="0.006342604562997437 0.0004857104254278111 0.12924596442747144" rpy="0 0 0"></origin>
		</collision>
		<collision>
			<geometry>
				<sphere radius="0.055944"></sphere>
			</geometry>
			<origin xyz="0.014257604562997437 0.0005887104254278111 0.16293896442747147" rpy="0 0 0"></origin>
		</collision>
		<collision>
			<geometry>
				<sphere radius="0.042576"></sphere>
			</geometry>
			<origin xyz="-0.008729395437002564 -0.00789328957457219 0.14964196442747146" rpy="0 0 0"></origin>
		</collision>
		<collision>
			<geometry>
				<sphere radius="0.049773"></sphere>
			</geometry>
			<origin xyz="-0.004265395437002564 0.002170710425427811 0.14716196442747145" rpy="0 0 0"></origin>
		</collision>
	</link>
	<link name="Link_Right_Elbow_to_Forearm">
		<inertial>
			<origin xyz="0.0549466007838511 -0.0216756143846236 -0.0260947315628108" rpy="0 0 0"></origin>
			<mass value="2"></mass>
			<inertia ixx="0.000127911797234284" ixy="2.38106236366762E-05" ixz="1.03498650492801E-05" iyy="0.000147030754784962" iyz="-3.53363431747744E-06" izz="0.000184937877942153"></inertia>
		</inertial>
		<visual>
			<origin xyz="0 0 0" rpy="0 0 0"></origin>
			<geometry>
				<mesh filename="package://meshes/Link_Right_Elbow_to_Forearm.STL"></mesh>
			</geometry>
			<material name="">
				<color rgba="0.792156862745098 0.819607843137255 0.933333333333333 1"></color>
			</material>
		</visual>
		<collision>
			<geometry>
				<sphere radius="0.059328"></sphere>
			</geometry>
			<origin xyz="0.05985352515467382 -0.026695232630392075 -0.038886854683742735" rpy="0 0 0"></origin>
		</collision>
		<collision>
			<geometry>
				<sphere radius="0.041559"></sphere>
			</geometry>
			<origin xyz="-0.0016024748453261767 -0.019969232630392075 -0.06004585468374274" rpy="0 0 0"></origin>
		</collision>
		<collision>
			<geometry>
				<sphere radius="0.024273"></sphere>
			</geometry>
			<origin xyz="-0.01118147484532618 0.029366767369607923 -0.06763685468374273" rpy="0 0 0"></origin>
		</collision>
		<collision>
			<geometry>
				<sphere radius="0.062729"></sphere>
			</geometry>
			<origin xyz="0.02300952515467382 -0.012892232630392075 -0.021641854683742735" rpy="0 0 0"></origin>
		</collision>
		<collision>
			<geometry>
				<sphere radius="0.053179"></sphere>
			</geometry>
			<origin xyz="-0.000407474845326182 -0.0007132326303920748 -0.021259854683742734" rpy="0 0 0"></origin>
		</collision>
		<collision>
			<geometry>
				<sphere radius="0.041961"></sphere>
			</geometry>
			<origin xyz="-0.008227474845326183 -0.0009522326303920744 -0.058668854683742735" rpy="0 0 0"></origin>
		</collision>
		<collision>
			<geometry>
				<sphere radius="0.023362"></sphere>
			</geometry>
			<origin xyz="0.012706525154673819 0.022157767369607922 -0.06824885468374273" rpy="0 0 0"></origin>
		</collision>
		<collision>
			<geometry>
				<sphere radius="0.023299"></sphere>
			</geometry>
			<origin xyz="0.01152552515467382 0.023777767369607926 0.006914145316257267" rpy="0 0 0"></origin>
		</collision>
	</link>
	<link name="Link_Right_Forearm_to_Wrist_Upper">
		<inertial>
			<origin xyz="0.0117316218483126 -3.6943768679798E-06 0.0184007744589053" rpy="0 0 0"></origin>
			<mass value="2"></mass>
			<inertia ixx="6.56522999630344E-05" ixy="3.29723529714723E-09" ixz="-5.72226817234757E-06" iyy="5.37807072489002E-05" iyz="-6.26393944830209E-09" izz="4.47545736054112E-05"></inertia>
		</inertial>
		<visual>
			<origin xyz="0 0 0" rpy="0 0 0"></origin>
			<geometry>
				<mesh filename="package://meshes/Link_Right_Forearm_to_Wrist_Upper.STL"></mesh>
			</geometry>
			<material name="">
				<color rgba="0.792156862745098 0.819607843137255 0.933333333333333 1"></color>
			</material>
		</visual>
		<collision>
			<geometry>
				<sphere radius="0.033399"></sphere>
			</geometry>
			<origin xyz="0.04014096650598872 -0.0002984368208591419 0.047553330991198586" rpy="0 0 0"></origin>
		</collision>
		<collision>
			<geometry>
				<sphere radius="0.036293"></sphere>
			</geometry>
			<origin xyz="0.025564966505988725 -0.021511436820859143 0.0031993309911985818" rpy="0 0 0"></origin>
		</collision>
		<collision>
			<geometry>
				<sphere radius="0.037921"></sphere>
			</geometry>
			<origin xyz="0.025536966505988724 0.024236563179140858 0.003327330991198585" rpy="0 0 0"></origin>
		</collision>
		<collision>
			<geometry>
				<sphere radius="0.032255"></sphere>
			</geometry>
			<origin xyz="-0.025693033494011277 0.024413563179140858 0.0029383309911985844" rpy="0 0 0"></origin>
		</collision>
		<collision>
			<geometry>
				<sphere radius="0.036137"></sphere>
			</geometry>
			<origin xyz="-0.026698033494011276 -0.023707436820859143 0.0035443309911985833" rpy="0 0 0"></origin>
		</collision>
		<collision>
			<geometry>
				<sphere radius="0.027497"></sphere>
			</geometry>
			<origin xyz="-0.03835403349401128 0.004857563179140858 0.0062133309911985846" rpy="0 0 0"></origin>
		</collision>
		<collision>
			<geometry>
				<sphere radius="0.030441"></sphere>
			</geometry>
			<origin xyz="-0.04357103349401128 -0.006879436820859142 0.05237733099119858" rpy="0 0 0"></origin>
		</collision>
		<collision>
			<geometry>
				<sphere radius="0.026535"></sphere>
			</geometry>
			<origin xyz="-0.04037203349401128 0.019250563179140857 0.05310033099119858" rpy="0 0 0"></origin>
		</collision>
	</link>
	<link name="Link_Right_Wrist_Upper_to_Wrist_Lower ">
		<inertial>
			<origin xyz="0.0274706147902958 0.00306146003716867 -0.0287201081136689" rpy="0 0 0"></origin>
			<mass value="2"></mass>
			<inertia ixx="7.43980450322561E-05" ixy="-2.82930739790888E-06" ixz="1.61230492845152E-05" iyy="0.00012828611050118" iyz="2.54263802065222E-06" izz="0.000158264614221318"></inertia>
		</inertial>
		<visual>
			<origin xyz="0 0 0" rpy="0 0 0"></origin>
			<geometry>
				<mesh filename="package://meshes/Link_Right_Wrist_Upper_to_Wrist_Lower .STL"></mesh>
			</geometry>
			<material name="">
				<color rgba="0.792156862745098 0.819607843137255 0.933333333333333 1"></color>
			</material>
		</visual>
		<collision>
			<geometry>
				<sphere radius="0.042426"></sphere>
			</geometry>
			<origin xyz="0.0002933121810317803 -0.010497355079428514 -0.021179153279923486" rpy="0 0 0"></origin>
		</collision>
		<collision>
			<geometry>
				<sphere radius="0.043397"></sphere>
			</geometry>
			<origin xyz="-0.0032526878189682203 0.006855644920571486 -0.024400153279923488" rpy="0 0 0"></origin>
		</collision>
		<collision>
			<geometry>
				<sphere radius="0.045781"></sphere>
			</geometry>
			<origin xyz="-0.008684687818968216 -0.004683355079428513 -0.04172715327992349" rpy="0 0 0"></origin>
		</collision>
		<collision>
			<geometry>
				<sphere radius="0.046469"></sphere>
			</geometry>
			<origin xyz="0.018180312181031784 0.008935644920571487 -0.04136315327992349" rpy="0 0 0"></origin>
		</collision>
		<collision>
			<geometry>
				<sphere radius="0.042266"></sphere>
			</geometry>
			<origin xyz="0.030587312181031782 -0.008828355079428514 -0.041369153279923486" rpy="0 0 0"></origin>
		</collision>
		<collision>
			<geometry>
				<sphere radius="0.053583"></sphere>
			</geometry>
			<origin xyz="0.037018312181031784 0.00014764492057148677 -0.031392153279923486" rpy="0 0 0"></origin>
		</collision>
		<collision>
			<geometry>
				<sphere radius="0.045113"></sphere>
			</geometry>
			<origin xyz="0.059186312181031785 0.005891644920571487 -0.03344415327992349" rpy="0 0 0"></origin>
		</collision>
		<collision>
			<geometry>
				<sphere radius="0.043304"></sphere>
			</geometry>
			<origin xyz="0.06421931218103177 -0.008715355079428513 -0.03212915327992349" rpy="0 0 0"></origin>
		</collision>
	</link>
	<link name="Link_Right_Wrist_Lower_to_Gripper">
		<inertial>
			<origin xyz="0.0648741770844646 -0.00014359743424047 -0.0278599665542821" rpy="0 0 0"></origin>
			<mass value="2"></mass>
			<inertia ixx="6.42926713965031E-05" ixy="-5.6644159727651E-08" ixz="8.15328654282783E-06" iyy="0.000103295646245639" iyz="-8.51386738847878E-08" izz="6.79418373823619E-05"></inertia>
		</inertial>
		<visual>
			<origin xyz="0 0 0" rpy="0 0 0"></origin>
			<geometry>
				<mesh filename="package://meshes/Link_Right_Wrist_Lower_to_Gripper.STL"></mesh>
			</geometry>
			<material name="">
				<color rgba="0.792156862745098 0.819607843137255 0.933333333333333 1"></color>
			</material>
		</visual>
		<collision>
			<geometry>
				<sphere radius="0.024495"></sphere>
			</geometry>
			<origin xyz="-2.4810311215650582e-05 -6.524062744778397e-05 0.005095097514544331" rpy="0 0 0"></origin>
		</collision>
		<collision>
			<geometry>
				<sphere radius="0.039515"></sphere>
			</geometry>
			<origin xyz="0.033371189688784345 0.004000759372552216 -0.004671902485455667" rpy="0 0 0"></origin>
		</collision>
		<collision>
			<geometry>
				<sphere radius="0.040998"></sphere>
			</geometry>
			<origin xyz="0.06165518968878435 -0.002748240627447784 -0.029330902485455668" rpy="0 0 0"></origin>
		</collision>
		<collision>
			<geometry>
				<sphere radius="0.027706"></sphere>
			</geometry>
			<origin xyz="0.0015681896887843466 -0.003881240627447784 -0.07373590248545567" rpy="0 0 0"></origin>
		</collision>
		<collision>
			<geometry>
				<sphere radius="0.040181"></sphere>
			</geometry>
			<origin xyz="0.048637189688784346 6.975937255221601e-05 -0.05138290248545567" rpy="0 0 0"></origin>
		</collision>
		<collision>
			<geometry>
				<sphere radius="0.023596"></sphere>
			</geometry>
			<origin xyz="0.017061189688784346 0.008961759372552216 -0.07106390248545567" rpy="0 0 0"></origin>
		</collision>
		<collision>
			<geometry>
				<sphere radius="0.042787"></sphere>
			</geometry>
			<origin xyz="0.10548318968878434 -9.024062744778397e-05 -0.026638902485455668" rpy="0 0 0"></origin>
		</collision>
		<collision>
			<geometry>
				<sphere radius="0.038999"></sphere>
			</geometry>
			<origin xyz="0.09906518968878435 -0.00010824062744778398 -0.040957902485455666" rpy="0 0 0"></origin>
		</collision>
	</link>
	<link name="Link_Camera_Gripper_Right">
		<inertial>
			<origin xyz="0 -6.53598090210174E-05 -0.0062936548087732" rpy="0 0 0"></origin>
			<mass value="0.000689353299449199"></mass>
			<inertia ixx="1.52761574483593E-08" ixy="-4.77552014841595E-26" ixz="-1.56220704946069E-25" iyy="1.50267886999145E-08" iyz="-2.75127488935962E-10" izz="7.39519392062994E-09"></inertia>
		</inertial>
		<visual>
			<origin xyz="0 0 0" rpy="0 0 0"></origin>
			<geometry>
				<mesh filename="package://meshes/Link_Camera_Gripper_Right.STL"></mesh>
			</geometry>
			<material name="">
				<color rgba="1 1 1 1"></color>
			</material>
		</visual>
		<collision>
			<geometry>
				<sphere radius="0.006367"></sphere>
			</geometry>
			<origin xyz="0.0 9.387731542652433e-11 -0.003941000093132257" rpy="0 0 0"></origin>
		</collision>
		<collision>
			<geometry>
				<sphere radius="0.007737"></sphere>
			</geometry>
			<origin xyz="2.5e-05 -0.0002339999061226844 -0.008531000093132258" rpy="0 0 0"></origin>
		</collision>
		<collision>
			<geometry>
				<sphere radius="0.004664"></sphere>
			</geometry>
			<origin xyz="0.0 -0.006936999906122685 -0.012001000093132257" rpy="0 0 0"></origin>
		</collision>
	</link>
	<link name="Link_Right_Gripper">
		<inertial>
			<origin xyz="0.0128216630537897 -0.0271636558972338 -0.0109999992497105" rpy="0 0 0"></origin>
			<mass value="0.0190716113071439"></mass>
			<inertia ixx="4.37605332229105E-06" ixy="-7.97606854154887E-07" ixz="-6.31265006022645E-14" iyy="2.85906444595262E-06" iyz="-5.83897621056923E-14" izz="4.77090119284218E-06"></inertia>
		</inertial>
		<visual>
			<origin xyz="0 0 0" rpy="0 0 0"></origin>
			<geometry>
				<mesh filename="package://meshes/Link_Right_Gripper.STL"></mesh>
			</geometry>
			<material name="">
				<color rgba="0.792156862745098 0.819607843137255 0.933333333333333 1"></color>
			</material>
		</visual>
		<collision>
			<geometry>
				<sphere radius="0.015516"></sphere>
			</geometry>
			<origin xyz="-0.0032133594103305966 0.008297326582687607 -0.011191500131353555" rpy="0 0 0"></origin>
		</collision>
		<collision>
			<geometry>
				<sphere radius="0.016692"></sphere>
			</geometry>
			<origin xyz="0.007535640589669403 -0.007530673417312393 -0.010975500131353556" rpy="0 0 0"></origin>
		</collision>
		<collision>
			<geometry>
				<sphere radius="0.017648"></sphere>
			</geometry>
			<origin xyz="0.0208306405896694 -0.023261673417312393 -0.016137500131353556" rpy="0 0 0"></origin>
		</collision>
		<collision>
			<geometry>
				<sphere radius="0.016713"></sphere>
			</geometry>
			<origin xyz="0.011248640589669403 -0.041612673417312396 -0.019824500131353555" rpy="0 0 0"></origin>
		</collision>
		<collision>
			<geometry>
				<sphere radius="0.015117"></sphere>
			</geometry>
			<origin xyz="0.001749640589669402 -0.05626767341731239 -0.016688500131353555" rpy="0 0 0"></origin>
		</collision>
		<collision>
			<geometry>
				<sphere radius="0.014534"></sphere>
			</geometry>
			<origin xyz="0.0006816405896694026 -0.057790673417312394 -0.0018415001313535559" rpy="0 0 0"></origin>
		</collision>
		<collision>
			<geometry>
				<sphere radius="0.016054"></sphere>
			</geometry>
			<origin xyz="0.010623640589669402 -0.042027673417312394 -0.002750500131353556" rpy="0 0 0"></origin>
		</collision>
		<collision>
			<geometry>
				<sphere radius="0.017824"></sphere>
			</geometry>
			<origin xyz="0.020799640589669405 -0.023789673417312394 -0.005966500131353555" rpy="0 0 0"></origin>
		</collision>
	</link>
	<link name="Link_Right_Gripper_Left_Inner_Knuckle">
		<inertial>
			<origin xyz="-0.00149938833922253 -0.0291504043841675 -0.0109999999999989" rpy="0 0 0"></origin>
			<mass value="0.0102249515270339"></mass>
			<inertia ixx="4.39129754380159E-06" ixy="-1.27692143624083E-07" ixz="5.56964959956836E-21" iyy="1.74716935939326E-06" iyz="3.7627949232859E-20" izz="2.91204783900101E-06"></inertia>
		</inertial>
		<visual>
			<origin xyz="0 0 0" rpy="0 0 0"></origin>
			<geometry>
				<mesh filename="package://meshes/Link_Right_Gripper_Left_Inner_Knuckle.STL"></mesh>
			</geometry>
			<material name="">
				<color rgba="0.792156862745098 0.819607843137255 0.933333333333333 1"></color>
			</material>
		</visual>
		<collision>
			<geometry>
				<sphere radius="0.012885"></sphere>
			</geometry>
			<origin xyz="-0.002230112842172384 -0.04059059930896759 -0.003083999940395356" rpy="0 0 0"></origin>
		</collision>
		<collision>
			<geometry>
				<sphere radius="0.009212"></sphere>
			</geometry>
			<origin xyz="-0.0008191128421723842 -0.002623599308967592 -0.025598999940395356" rpy="0 0 0"></origin>
		</collision>
		<collision>
			<geometry>
				<sphere radius="0.014234"></sphere>
			</geometry>
			<origin xyz="-0.0027471128421723843 -0.02349959930896759 0.002241000059604644" rpy="0 0 0"></origin>
		</collision>
		<collision>
			<geometry>
				<sphere radius="0.00996"></sphere>
			</geometry>
			<origin xyz="0.0011298871578276156 -0.003366599308967589 0.003600000059604645" rpy="0 0 0"></origin>
		</collision>
		<collision>
			<geometry>
				<sphere radius="0.00765"></sphere>
			</geometry>
			<origin xyz="-0.003249112842172384 -0.05569459930896759 0.0003890000596046446" rpy="0 0 0"></origin>
		</collision>
		<collision>
			<geometry>
				<sphere radius="0.009684"></sphere>
			</geometry>
			<origin xyz="-0.0018081128421723843 -0.05385559930896759 -0.021726999940395356" rpy="0 0 0"></origin>
		</collision>
		<collision>
			<geometry>
				<sphere radius="0.013507"></sphere>
			</geometry>
			<origin xyz="-0.0021531128421723843 -0.03815159930896759 -0.020649999940395354" rpy="0 0 0"></origin>
		</collision>
		<collision>
			<geometry>
				<sphere radius="0.011153"></sphere>
			</geometry>
			<origin xyz="-0.0007641128421723843 -0.018616599308967592 -0.025599999940395357" rpy="0 0 0"></origin>
		</collision>
	</link>
	<link name="Link_Right_Gripper_Left_Finger">
		<inertial>
			<origin xyz="0.000641821702344281 -0.0211812400734595 -0.00789294723050172" rpy="0 0 0"></origin>
			<mass value="0.0195863673176326"></mass>
			<inertia ixx="3.21349935756284E-06" ixy="-3.31543812300715E-07" ixz="-6.14417448646757E-09" iyy="1.31949587109393E-06" iyz="-2.98355626473412E-08" izz="2.98254973033518E-06"></inertia>
		</inertial>
		<visual>
			<origin xyz="0 0 0" rpy="0 0 0"></origin>
			<geometry>
				<mesh filename="package://meshes/Link_Right_Gripper_Left_Finger.STL"></mesh>
			</geometry>
			<material name="">
				<color rgba="0.792156862745098 0.819607843137255 0.933333333333333 1"></color>
			</material>
		</visual>
		<collision>
			<geometry>
				<sphere radius="0.016055"></sphere>
			</geometry>
			<origin xyz="0.0009897798933210886 -0.009450969941937792 -0.007719250204343891" rpy="0 0 0"></origin>
		</collision>
		<collision>
			<geometry>
				<sphere radius="0.012328"></sphere>
			</geometry>
			<origin xyz="0.015033779893321088 0.005441030058062207 -0.007619250204343892" rpy="0 0 0"></origin>
		</collision>
		<collision>
			<geometry>
				<sphere radius="0.014819"></sphere>
			</geometry>
			<origin xyz="-0.001785220106678911 -0.03174596994193779 -0.013389250204343891" rpy="0 0 0"></origin>
		</collision>
		<collision>
			<geometry>
				<sphere radius="0.015793"></sphere>
			</geometry>
			<origin xyz="-0.00041222010667891183 -0.01850796994193779 -0.0072252502043438915" rpy="0 0 0"></origin>
		</collision>
		<collision>
			<geometry>
				<sphere radius="0.014066"></sphere>
			</geometry>
			<origin xyz="-0.002041220106678912 -0.035260969941937795 -0.002870250204343891" rpy="0 0 0"></origin>
		</collision>
		<collision>
			<geometry>
				<sphere radius="0.013469"></sphere>
			</geometry>
			<origin xyz="-0.0033052201066789116 -0.04587096994193779 -0.008466250204343892" rpy="0 0 0"></origin>
		</collision>
		<collision>
			<geometry>
				<sphere radius="0.009927"></sphere>
			</geometry>
			<origin xyz="-0.0050952201066789115 -0.053563969941937795 -0.008300250204343891" rpy="0 0 0"></origin>
		</collision>
		<collision>
			<geometry>
				<sphere radius="0.013449"></sphere>
			</geometry>
			<origin xyz="0.004644779893321089 -0.00020096994193779041 -0.008198250204343891" rpy="0 0 0"></origin>
		</collision>
	</link>
	<link name="Link_Right_Gripper_Right_Outer_Knuckle">
		<inertial>
			<origin xyz="-0.0128216630537898 -0.0271636558972336 -0.0110000007502954" rpy="0 0 0"></origin>
			<mass value="0.019071611307144"></mass>
			<inertia ixx="4.37605332229107E-06" ixy="7.97606854154889E-07" ixz="-6.31265587691774E-14" iyy="2.85906444595262E-06" iyz="5.83898889429144E-14" izz="4.77090119284221E-06"></inertia>
		</inertial>
		<visual>
			<origin xyz="0 0 0" rpy="0 0 0"></origin>
			<geometry>
				<mesh filename="package://meshes/Link_Right_Gripper_Right_Outer_Knuckle.STL"></mesh>
			</geometry>
			<material name="">
				<color rgba="0.792156862745098 0.819607843137255 0.933333333333333 1"></color>
			</material>
		</visual>
		<collision>
			<geometry>
				<sphere radius="0.020811"></sphere>
			</geometry>
			<origin xyz="-0.020990831568274304 -0.022731484284263397 -0.0150417471613487" rpy="0 0 0"></origin>
		</collision>
		<collision>
			<geometry>
				<sphere radius="0.01416"></sphere>
			</geometry>
			<origin xyz="-0.0034098315682743047 -0.0028724842842633956 -0.0111097471613487" rpy="0 0 0"></origin>
		</collision>
		<collision>
			<geometry>
				<sphere radius="0.020212"></sphere>
			</geometry>
			<origin xyz="-0.020996831568274303 -0.021774484284263398 -0.0075307471613487" rpy="0 0 0"></origin>
		</collision>
		<collision>
			<geometry>
				<sphere radius="0.013426"></sphere>
			</geometry>
			<origin xyz="0.003982168431725695 0.010152515715736603 -0.0113487471613487" rpy="0 0 0"></origin>
		</collision>
		<collision>
			<geometry>
				<sphere radius="0.01649"></sphere>
			</geometry>
			<origin xyz="-0.010841831568274306 -0.043555484284263396 -0.0036157471613487" rpy="0 0 0"></origin>
		</collision>
		<collision>
			<geometry>
				<sphere radius="0.016269"></sphere>
			</geometry>
			<origin xyz="-0.011084831568274304 -0.043215484284263396 -0.0190457471613487" rpy="0 0 0"></origin>
		</collision>
		<collision>
			<geometry>
				<sphere radius="0.014155"></sphere>
			</geometry>
			<origin xyz="-0.0016918315682743056 -0.0574494842842634 -0.0202707471613487" rpy="0 0 0"></origin>
		</collision>
		<collision>
			<geometry>
				<sphere radius="0.014061"></sphere>
			</geometry>
			<origin xyz="-0.0007848315682743058 -0.0578854842842634 -0.0021217471613487002" rpy="0 0 0"></origin>
		</collision>
	</link>
	<link name="Link_Right_Gripper_Right_Inner_Knuckle">
		<inertial>
			<origin xyz="0.00149938833922253 -0.0291504043841675 -0.0109999999999991" rpy="0 0 0"></origin>
			<mass value="0.0102249515270339"></mass>
			<inertia ixx="4.39129754380158E-06" ixy="1.2769214362408E-07" ixz="-5.6943281465406E-21" iyy="1.74716935939326E-06" iyz="3.78884972585288E-20" izz="2.912047839001E-06"></inertia>
		</inertial>
		<visual>
			<origin xyz="0 0 0" rpy="0 0 0"></origin>
			<geometry>
				<mesh filename="package://meshes/Link_Right_Gripper_Right_Inner_Knuckle.STL"></mesh>
			</geometry>
			<material name="">
				<color rgba="0.792156862745098 0.819607843137255 0.933333333333333 1"></color>
			</material>
		</visual>
		<collision>
			<geometry>
				<sphere radius="0.012477"></sphere>
			</geometry>
			<origin xyz="0.0029821195793250386 -0.05237293503269795 -0.0016350196194774413" rpy="0 0 0"></origin>
		</collision>
		<collision>
			<geometry>
				<sphere radius="0.013022"></sphere>
			</geometry>
			<origin xyz="0.0022711195793250387 -0.05201793503269796 -0.02022501961947744" rpy="0 0 0"></origin>
		</collision>
		<collision>
			<geometry>
				<sphere radius="0.013482"></sphere>
			</geometry>
			<origin xyz="0.0017811195793250383 -0.03870693503269795 -0.01765401961947744" rpy="0 0 0"></origin>
		</collision>
		<collision>
			<geometry>
				<sphere radius="0.014292"></sphere>
			</geometry>
			<origin xyz="0.0018381195793250385 -0.037007935032697954 -0.00082201961947744" rpy="0 0 0"></origin>
		</collision>
		<collision>
			<geometry>
				<sphere radius="0.012973"></sphere>
			</geometry>
			<origin xyz="-0.0005408804206749615 -0.023509935032697955 -0.02575801961947744" rpy="0 0 0"></origin>
		</collision>
		<collision>
			<geometry>
				<sphere radius="0.011852"></sphere>
			</geometry>
			<origin xyz="0.0012101195793250384 -0.004068935032697955 -0.025843019619477443" rpy="0 0 0"></origin>
		</collision>
		<collision>
			<geometry>
				<sphere radius="0.011867"></sphere>
			</geometry>
			<origin xyz="0.0006381195793250385 -0.016635935032697953 0.003743980380522559" rpy="0 0 0"></origin>
		</collision>
		<collision>
			<geometry>
				<sphere radius="0.009674"></sphere>
			</geometry>
			<origin xyz="0.00010011957932503854 -0.0020539350326979552 0.0034569803805225598" rpy="0 0 0"></origin>
		</collision>
	</link>
	<link name="Link_Right_Gripper_Right_Finger">
		<inertial>
			<origin xyz="-0.00064182170213728 -0.0211812400742588 -0.00845231346583974" rpy="0 0 0"></origin>
			<mass value="0.0195863673180198"></mass>
			<inertia ixx="3.21349935784202E-06" ixy="3.31543812364365E-07" ixz="1.95020615750501E-08" iyy="1.31949587111093E-06" iyz="1.60026427323422E-08" izz="2.9825497306121E-06"></inertia>
		</inertial>
		<visual>
			<origin xyz="0 0 0" rpy="0 0 0"></origin>
			<geometry>
				<mesh filename="package://meshes/Link_Right_Gripper_Right_Finger.STL"></mesh>
			</geometry>
			<material name="">
				<color rgba="0.792156862745098 0.819607843137255 0.933333333333333 1"></color>
			</material>
		</visual>
		<collision>
			<geometry>
				<sphere radius="0.014697"></sphere>
			</geometry>
			<origin xyz="-0.010061107925602351 0.0020949684881981685 -0.008956751165943426" rpy="0 0 0"></origin>
		</collision>
		<collision>
			<geometry>
				<sphere radius="0.010833"></sphere>
			</geometry>
			<origin xyz="-0.016507107925602352 0.0056359684881981675 -0.007082751165943426" rpy="0 0 0"></origin>
		</collision>
		<collision>
			<geometry>
				<sphere radius="0.014339"></sphere>
			</geometry>
			<origin xyz="-0.0012971079256023513 -0.00626803151180183 -0.006196751165943426" rpy="0 0 0"></origin>
		</collision>
		<collision>
			<geometry>
				<sphere radius="0.016352"></sphere>
			</geometry>
			<origin xyz="-0.0012931079256023516 -0.01032903151180183 -0.011564751165943426" rpy="0 0 0"></origin>
		</collision>
		<collision>
			<geometry>
				<sphere radius="0.015204"></sphere>
			</geometry>
			<origin xyz="-0.0005601079256023515 -0.020590031511801832 -0.004633751165943426" rpy="0 0 0"></origin>
		</collision>
		<collision>
			<geometry>
				<sphere radius="0.015501"></sphere>
			</geometry>
			<origin xyz="0.0010988920743976484 -0.03324503151180183 -0.014414751165943426" rpy="0 0 0"></origin>
		</collision>
		<collision>
			<geometry>
				<sphere radius="0.014121"></sphere>
			</geometry>
			<origin xyz="0.0018778920743976486 -0.041423031511801836 -0.002675751165943426" rpy="0 0 0"></origin>
		</collision>
		<collision>
			<geometry>
				<sphere radius="0.012044"></sphere>
			</geometry>
			<origin xyz="0.0035768920743976477 -0.05140703151180183 -0.010486751165943426" rpy="0 0 0"></origin>
		</collision>
	</link>
	<link name="Link_Camera_Head_Back">
		<inertial>
			<origin xyz="-0.000803346538442287 0.00102233892031145 -0.0271730577422258" rpy="0 0 0"></origin>
			<mass value="0.0177930956200841"></mass>
			<inertia ixx="8.06235495517881E-06" ixy="1.39056250910053E-08" ixz="-1.00210046478199E-06" iyy="8.74839376567522E-06" iyz="4.91714201406625E-07" izz="3.19382727241654E-06"></inertia>
		</inertial>
		<visual>
			<origin xyz="0 0 0" rpy="0 0 0"></origin>
			<geometry>
				<mesh filename="package://meshes/Link_Camera_Head_Back.STL"></mesh>
			</geometry>
			<material name="">
				<color rgba="0.250980392156863 0.250980392156863 0.250980392156863 1"></color>
			</material>
		</visual>
		<collision>
			<geometry>
				<sphere radius="0.018821"></sphere>
			</geometry>
			<origin xyz="-0.01157085472946873 0.0022183526529493893 -0.037177075812977786" rpy="0 0 0"></origin>
		</collision>
		<collision>
			<geometry>
				<sphere radius="0.013664"></sphere>
			</geometry>
			<origin xyz="-0.01468585472946873 0.0054323526529493895 -0.08448307581297779" rpy="0 0 0"></origin>
		</collision>
		<collision>
			<geometry>
				<sphere radius="0.030929"></sphere>
			</geometry>
			<origin xyz="-0.00106885472946873 -0.0012256473470506108 -0.020428075812977786" rpy="0 0 0"></origin>
		</collision>
		<collision>
			<geometry>
				<sphere radius="0.022183"></sphere>
			</geometry>
			<origin xyz="0.00678214527053127 -0.007621647347050611 -0.025460075812977784" rpy="0 0 0"></origin>
		</collision>
		<collision>
			<geometry>
				<sphere radius="0.023719"></sphere>
			</geometry>
			<origin xyz="0.00720114527053127 0.007538352652949389 -0.028949075812977787" rpy="0 0 0"></origin>
		</collision>
		<collision>
			<geometry>
				<sphere radius="0.02115"></sphere>
			</geometry>
			<origin xyz="-0.00854785472946873 0.007672352652949389 -0.025493075812977786" rpy="0 0 0"></origin>
		</collision>
		<collision>
			<geometry>
				<sphere radius="0.014022"></sphere>
			</geometry>
			<origin xyz="-0.01534085472946873 0.002598352652949389 -0.06206107581297779" rpy="0 0 0"></origin>
		</collision>
		<collision>
			<geometry>
				<sphere radius="0.017326"></sphere>
			</geometry>
			<origin xyz="0.01209814527053127 0.0031533526529493893 -0.03668507581297779" rpy="0 0 0"></origin>
		</collision>
	</link>
	<link name="Link_Camera_Head_Right_Eye">
		<inertial>
			<origin xyz="-0.00080334635020074 0.00102234052424643 -0.0271730569271434" rpy="0 0 0"></origin>
			<mass value="0.0177930973239926"></mass>
			<inertia ixx="8.06235514574236E-06" ixy="1.39055611846873E-08" ixz="-1.002100499834E-06" iyy="8.74839411494282E-06" iyz="4.91713772423917E-07" izz="3.19382719772465E-06"></inertia>
		</inertial>
		<visual>
			<origin xyz="0 0 0" rpy="0 0 0"></origin>
			<geometry>
				<mesh filename="package://meshes/Link_Camera_Head_Right_Eye.STL"></mesh>
			</geometry>
			<material name="">
				<color rgba="0.250980392156863 0.250980392156863 0.250980392156863 1"></color>
			</material>
		</visual>
		<collision>
			<geometry>
				<sphere radius="0.018821"></sphere>
			</geometry>
			<origin xyz="-0.01157085472946873 0.0022183526529493893 -0.037177075812977786" rpy="0 0 0"></origin>
		</collision>
		<collision>
			<geometry>
				<sphere radius="0.013664"></sphere>
			</geometry>
			<origin xyz="-0.01468585472946873 0.0054323526529493895 -0.08448307581297779" rpy="0 0 0"></origin>
		</collision>
		<collision>
			<geometry>
				<sphere radius="0.030929"></sphere>
			</geometry>
			<origin xyz="-0.00106885472946873 -0.0012256473470506108 -0.020428075812977786" rpy="0 0 0"></origin>
		</collision>
		<collision>
			<geometry>
				<sphere radius="0.022183"></sphere>
			</geometry>
			<origin xyz="0.00678214527053127 -0.007621647347050611 -0.025460075812977784" rpy="0 0 0"></origin>
		</collision>
		<collision>
			<geometry>
				<sphere radius="0.023719"></sphere>
			</geometry>
			<origin xyz="0.00720114527053127 0.007538352652949389 -0.028949075812977787" rpy="0 0 0"></origin>
		</collision>
		<collision>
			<geometry>
				<sphere radius="0.02115"></sphere>
			</geometry>
			<origin xyz="-0.00854785472946873 0.007672352652949389 -0.025493075812977786" rpy="0 0 0"></origin>
		</collision>
		<collision>
			<geometry>
				<sphere radius="0.014022"></sphere>
			</geometry>
			<origin xyz="-0.01534085472946873 0.002598352652949389 -0.06206107581297779" rpy="0 0 0"></origin>
		</collision>
		<collision>
			<geometry>
				<sphere radius="0.017326"></sphere>
			</geometry>
			<origin xyz="0.01209814527053127 0.0031533526529493893 -0.03668507581297779" rpy="0 0 0"></origin>
		</collision>
	</link>
	<link name="Link_Camera_Head_Left_Eye">
		<inertial>
			<origin xyz="-0.000803346350200747 0.00102234052424621 -0.0271730569271432" rpy="0 0 0"></origin>
			<mass value="0.0177930973239927"></mass>
			<inertia ixx="8.06235514574244E-06" ixy="1.39055611846865E-08" ixz="-1.00210049983399E-06" iyy="8.7483941149429E-06" iyz="4.91713772423912E-07" izz="3.19382719772465E-06"></inertia>
		</inertial>
		<visual>
			<origin xyz="0 0 0" rpy="0 0 0"></origin>
			<geometry>
				<mesh filename="package://meshes/Link_Camera_Head_Left_Eye.STL"></mesh>
			</geometry>
			<material name="">
				<color rgba="0.250980392156863 0.250980392156863 0.250980392156863 1"></color>
			</material>
		</visual>
		<collision>
			<geometry>
				<sphere radius="0.018821"></sphere>
			</geometry>
			<origin xyz="-0.01157085472946873 0.0022183526529493893 -0.037177075812977786" rpy="0 0 0"></origin>
		</collision>
		<collision>
			<geometry>
				<sphere radius="0.013664"></sphere>
			</geometry>
			<origin xyz="-0.01468585472946873 0.0054323526529493895 -0.08448307581297779" rpy="0 0 0"></origin>
		</collision>
		<collision>
			<geometry>
				<sphere radius="0.030929"></sphere>
			</geometry>
			<origin xyz="-0.00106885472946873 -0.0012256473470506108 -0.020428075812977786" rpy="0 0 0"></origin>
		</collision>
		<collision>
			<geometry>
				<sphere radius="0.022183"></sphere>
			</geometry>
			<origin xyz="0.00678214527053127 -0.007621647347050611 -0.025460075812977784" rpy="0 0 0"></origin>
		</collision>
		<collision>
			<geometry>
				<sphere radius="0.023719"></sphere>
			</geometry>
			<origin xyz="0.00720114527053127 0.007538352652949389 -0.028949075812977787" rpy="0 0 0"></origin>
		</collision>
		<collision>
			<geometry>
				<sphere radius="0.02115"></sphere>
			</geometry>
			<origin xyz="-0.00854785472946873 0.007672352652949389 -0.025493075812977786" rpy="0 0 0"></origin>
		</collision>
		<collision>
			<geometry>
				<sphere radius="0.014022"></sphere>
			</geometry>
			<origin xyz="-0.01534085472946873 0.002598352652949389 -0.06206107581297779" rpy="0 0 0"></origin>
		</collision>
		<collision>
			<geometry>
				<sphere radius="0.017326"></sphere>
			</geometry>
			<origin xyz="0.01209814527053127 0.0031533526529493893 -0.03668507581297779" rpy="0 0 0"></origin>
		</collision>
	</link>
	<link name="Link_Mask">
		<inertial>
			<origin xyz="-2.05837901418038E-07 -0.102991142448384 -0.103094710902463" rpy="0 0 0"></origin>
			<mass value="2"></mass>
			<inertia ixx="0.000324738316903186" ixy="3.02691177350238E-09" ixz="5.561881661179E-08" iyy="0.000455778905525662" iyz="4.85062200503267E-05" izz="0.000184472373903427"></inertia>
		</inertial>
		<visual>
			<origin xyz="0 0 0" rpy="0 0 0"></origin>
			<geometry>
				<mesh filename="package://meshes/Link_Mask.STL"></mesh>
			</geometry>
			<material name="">
				<color rgba="0.501960784313725 0.501960784313725 0.501960784313725 1"></color>
			</material>
		</visual>
		<collision>
			<geometry>
				<sphere radius="0.048012"></sphere>
			</geometry>
			<origin xyz="0.035844553513094755 -0.07560564861962353 -0.17349941118728313" rpy="0 0 0"></origin>
		</collision>
		<collision>
			<geometry>
				<sphere radius="0.045544"></sphere>
			</geometry>
			<origin xyz="0.04975255351309476 -0.10382764861962353 -0.10829541118728314" rpy="0 0 0"></origin>
		</collision>
		<collision>
			<geometry>
				<sphere radius="0.045794"></sphere>
			</geometry>
			<origin xyz="-0.011798446486905244 -0.11379564861962352 -0.14216941118728316" rpy="0 0 0"></origin>
		</collision>
		<collision>
			<geometry>
				<sphere radius="0.048066"></sphere>
			</geometry>
			<origin xyz="-0.04221444648690524 -0.07684064861962353 -0.16916641118728315" rpy="0 0 0"></origin>
		</collision>
		<collision>
			<geometry>
				<sphere radius="0.047611"></sphere>
			</geometry>
			<origin xyz="-0.05106244648690524 -0.10384964861962352 -0.09402641118728315" rpy="0 0 0"></origin>
		</collision>
		<collision>
			<geometry>
				<sphere radius="0.047779"></sphere>
			</geometry>
			<origin xyz="-0.004438446486905244 -0.12107764861962353 -0.06286241118728314" rpy="0 0 0"></origin>
		</collision>
		<collision>
			<geometry>
				<sphere radius="0.045536"></sphere>
			</geometry>
			<origin xyz="0.03728255351309476 -0.10290064861962353 -0.037639411187283145" rpy="0 0 0"></origin>
		</collision>
		<collision>
			<geometry>
				<sphere radius="0.043435"></sphere>
			</geometry>
			<origin xyz="-0.028672446486905243 -0.10869864861962353 -0.025942411187283146" rpy="0 0 0"></origin>
		</collision>
	</link>
	<link name="Link_Chest_Front_Cover">
		<inertial>
			<origin xyz="0.0970239814442858 0.0370245979162963 -0.317463302536446" rpy="0 0 0"></origin>
			<mass value="0.0939905859629904"></mass>
			<inertia ixx="0.000354113496030877" ixy="-3.79940057315708E-06" ixz="1.32395225458379E-06" iyy="0.000505942322232302" iyz="1.60873979885374E-06" izz="0.00016112627656741"></inertia>
		</inertial>
		<visual>
			<origin xyz="0 0 0" rpy="0 0 0"></origin>
			<geometry>
				<mesh filename="package://meshes/Link_Chest_Front_Cover.STL"></mesh>
			</geometry>
			<material name="">
				<color rgba="0.498039215686275 0.525490196078431 0.745098039215686 1"></color>
			</material>
		</visual>
		<collision>
			<geometry>
				<sphere radius="0.042394"></sphere>
			</geometry>
			<origin xyz="0.13932996358464111 0.034339137570323544 -0.39483961011753294" rpy="0 0 0"></origin>
		</collision>
		<collision>
			<geometry>
				<sphere radius="0.044767"></sphere>
			</geometry>
			<origin xyz="0.06441996358464111 0.03482113757032355 -0.3941476101175329" rpy="0 0 0"></origin>
		</collision>
		<collision>
			<geometry>
				<sphere radius="0.0454"></sphere>
			</geometry>
			<origin xyz="0.1373809635846411 0.04419613757032355 -0.34379661011753293" rpy="0 0 0"></origin>
		</collision>
		<collision>
			<geometry>
				<sphere radius="0.046624"></sphere>
			</geometry>
			<origin xyz="0.0623119635846411 0.04185813757032355 -0.33974261011753293" rpy="0 0 0"></origin>
		</collision>
		<collision>
			<geometry>
				<sphere radius="0.045689"></sphere>
			</geometry>
			<origin xyz="0.1373839635846411 0.04185113757032355 -0.2873976101175329" rpy="0 0 0"></origin>
		</collision>
		<collision>
			<geometry>
				<sphere radius="0.04502"></sphere>
			</geometry>
			<origin xyz="0.0564489635846411 0.037831137570323546 -0.2807516101175329" rpy="0 0 0"></origin>
		</collision>
		<collision>
			<geometry>
				<sphere radius="0.039871"></sphere>
			</geometry>
			<origin xyz="0.0674359635846411 0.03583013757032355 -0.23948761011753292" rpy="0 0 0"></origin>
		</collision>
		<collision>
			<geometry>
				<sphere radius="0.042146"></sphere>
			</geometry>
			<origin xyz="0.1362939635846411 0.035707137570323545 -0.23979461011753292" rpy="0 0 0"></origin>
		</collision>
	</link>
	<link name="Link_Chest_Back_Cover">
		<inertial>
			<origin xyz="0.102665022539535 -0.0910080676557068 -0.212115982770171" rpy="0 0 0"></origin>
			<mass value="0.209224454777449"></mass>
			<inertia ixx="0.000566488052492765" ixy="-2.65086386504084E-08" ixz="-4.38278326230094E-07" iyy="0.00166785759059947" iyz="-3.47104995483819E-05" izz="0.00158774316311701"></inertia>
		</inertial>
		<visual>
			<origin xyz="0 0 0" rpy="0 0 0"></origin>
			<geometry>
				<mesh filename="package://meshes/Link_Chest_Back_Cover.STL"></mesh>
			</geometry>
			<material name="">
				<color rgba="0.725490196078431 0.745098039215686 0.650980392156863 1"></color>
			</material>
		</visual>
		<collision>
			<geometry>
				<sphere radius="0.067035"></sphere>
			</geometry>
			<origin xyz="0.03501276885684962 -0.11983298753497382 -0.24468050286776308" rpy="0 0 0"></origin>
		</collision>
		<collision>
			<geometry>
				<sphere radius="0.068495"></sphere>
			</geometry>
			<origin xyz="0.20083476885684962 -0.0654649875349738 -0.22071850286776307" rpy="0 0 0"></origin>
		</collision>
		<collision>
			<geometry>
				<sphere radius="0.066575"></sphere>
			</geometry>
			<origin xyz="0.003227768856849625 -0.06603798753497381 -0.22686650286776308" rpy="0 0 0"></origin>
		</collision>
		<collision>
			<geometry>
				<sphere radius="0.056382"></sphere>
			</geometry>
			<origin xyz="0.1833357688568496 -0.07962898753497381 -0.16902350286776308" rpy="0 0 0"></origin>
		</collision>
		<collision>
			<geometry>
				<sphere radius="0.054873"></sphere>
			</geometry>
			<origin xyz="0.13439676885684962 -0.1216749875349738 -0.18107550286776308" rpy="0 0 0"></origin>
		</collision>
		<collision>
			<geometry>
				<sphere radius="0.056554"></sphere>
			</geometry>
			<origin xyz="0.19262376885684962 -0.10631298753497381 -0.2505635028677631" rpy="0 0 0"></origin>
		</collision>
		<collision>
			<geometry>
				<sphere radius="0.076528"></sphere>
			</geometry>
			<origin xyz="0.031813768856849625 -0.0941369875349738 -0.17737050286776307" rpy="0 0 0"></origin>
		</collision>
		<collision>
			<geometry>
				<sphere radius="0.053563"></sphere>
			</geometry>
			<origin xyz="0.11901776885684962 -0.1257129875349738 -0.24833350286776307" rpy="0 0 0"></origin>
		</collision>
	</link>
	<link name="Link_Camera_Chest">
		<inertial>
			<origin xyz="0.00111196141451277 -2.78495287886482E-05 -0.012565684115131" rpy="0 0 0"></origin>
			<mass value="0.0457689927476151"></mass>
			<inertia ixx="4.13770899814852E-06" ixy="-1.45339317442275E-09" ixz="4.09728418768785E-07" iyy="2.78756697554141E-05" iyz="7.42363844020483E-09" izz="2.75915836718397E-05"></inertia>
		</inertial>
		<visual>
			<origin xyz="0 0 0" rpy="0 0 0"></origin>
			<geometry>
				<mesh filename="package://meshes/Link_Camera_Chest.STL"></mesh>
			</geometry>
			<material name="">
				<color rgba="0.792156862745098 0.819607843137255 0.933333333333333 1"></color>
			</material>
		</visual>
		<collision>
			<geometry>
				<sphere radius="0.018306"></sphere>
			</geometry>
			<origin xyz="-0.029577123975900798 -0.0001287059133451335 -0.011768789780327457" rpy="0 0 0"></origin>
		</collision>
		<collision>
			<geometry>
				<sphere radius="0.017521"></sphere>
			</geometry>
			<origin xyz="0.0325088760240992 -0.00015570591334513348 -0.012816789780327457" rpy="0 0 0"></origin>
		</collision>
		<collision>
			<geometry>
				<sphere radius="0.018365"></sphere>
			</geometry>
			<origin xyz="0.021483876024099204 -0.0005927059133451335 -0.012471789780327458" rpy="0 0 0"></origin>
		</collision>
		<collision>
			<geometry>
				<sphere radius="0.018633"></sphere>
			</geometry>
			<origin xyz="-0.007785123975900797 0.00018129408665486647 -0.012801789780327458" rpy="0 0 0"></origin>
		</collision>
		<collision>
			<geometry>
				<sphere radius="0.018118"></sphere>
			</geometry>
			<origin xyz="-0.020421123975900797 -0.0002537059133451335 -0.012646789780327457" rpy="0 0 0"></origin>
		</collision>
		<collision>
			<geometry>
				<sphere radius="0.018644"></sphere>
			</geometry>
			<origin xyz="0.006709876024099203 0.0001132940866548665 -0.012507789780327457" rpy="0 0 0"></origin>
		</collision>
	</link>
	<link name="Link_Knee_Black_Cover">
		<inertial>
			<origin xyz="-0.185935924677306 0.0115409856049614 -0.00145142348220287" rpy="0 0 0"></origin>
			<mass value="0.260422352934635"></mass>
			<inertia ixx="0.00024862624724164" ixy="-4.3718926653023E-05" ixz="7.52189734591861E-08" iyy="0.00208362754151595" iyz="2.44599307705115E-07" izz="0.00232631660520813"></inertia>
		</inertial>
		<visual>
			<origin xyz="0 0 0" rpy="0 0 0"></origin>
			<geometry>
				<mesh filename="package://meshes/Link_Knee_Black_Cover.STL"></mesh>
			</geometry>
			<material name="">
				<color rgba="0.792156862745098 0.819607843137255 0.933333333333333 1"></color>
			</material>
		</visual>
		<collision>
			<geometry>
				<sphere radius="0.087582"></sphere>
			</geometry>
			<origin xyz="-0.0238310392756661 0.017517658206575006 0.0565548151559064" rpy="0 0 0"></origin>
		</collision>
		<collision>
			<geometry>
				<sphere radius="0.102584"></sphere>
			</geometry>
			<origin xyz="-0.17970703927566611 0.012942658206575008 0.0431258151559064" rpy="0 0 0"></origin>
		</collision>
		<collision>
			<geometry>
				<sphere radius="0.079392"></sphere>
			</geometry>
			<origin xyz="-0.3005230392756661 -0.0003563417934249924 0.0560798151559064" rpy="0 0 0"></origin>
		</collision>
		<collision>
			<geometry>
				<sphere radius="0.074489"></sphere>
			</geometry>
			<origin xyz="-0.3720860392756661 0.005495658206575008 0.0510708151559064" rpy="0 0 0"></origin>
		</collision>
		<collision>
			<geometry>
				<sphere radius="0.094466"></sphere>
			</geometry>
			<origin xyz="-0.031006039275666114 0.0064556582065750075 -0.041605184844093604" rpy="0 0 0"></origin>
		</collision>
		<collision>
			<geometry>
				<sphere radius="0.104382"></sphere>
			</geometry>
			<origin xyz="-0.1822310392756661 0.012489658206575008 -0.043945184844093606" rpy="0 0 0"></origin>
		</collision>
		<collision>
			<geometry>
				<sphere radius="0.079683"></sphere>
			</geometry>
			<origin xyz="-0.30755303927566613 -0.00021534179342499234 -0.054496184844093604" rpy="0 0 0"></origin>
		</collision>
		<collision>
			<geometry>
				<sphere radius="0.074351"></sphere>
			</geometry>
			<origin xyz="-0.35922103927566607 0.005940658206575008 -0.048531184844093606" rpy="0 0 0"></origin>
		</collision>
	</link>
	<link name="Link_IMU">
		<inertial>
			<origin xyz="-0.000532256650626006 -0.0054028565472856 -0.00652634706970708" rpy="0 0 0"></origin>
			<mass value="0.0250513530544791"></mass>
			<inertia ixx="4.72772678965137E-06" ixy="1.65105409699308E-09" ixz="6.04146929799404E-12" iyy="5.75032057676297E-06" iyz="6.75832216834686E-09" izz="9.91394694823134E-06"></inertia>
		</inertial>
		<visual>
			<origin xyz="0 0 0" rpy="0 0 0"></origin>
			<geometry>
				<mesh filename="package://meshes/Link_IMU.STL"></mesh>
			</geometry>
			<material name="">
				<color rgba="1 1 1 1"></color>
			</material>
		</visual>
		<collision>
			<geometry>
				<sphere radius="0.018603"></sphere>
			</geometry>
			<origin xyz="0.014507999223947524 -0.01850200054717064 -0.005849999999999994" rpy="0 0 0"></origin>
		</collision>
		<collision>
			<geometry>
				<sphere radius="0.016538"></sphere>
			</geometry>
			<origin xyz="0.020662999223947525 0.004224999452829361 -0.007468999999999994" rpy="0 0 0"></origin>
		</collision>
		<collision>
			<geometry>
				<sphere radius="0.015947"></sphere>
			</geometry>
			<origin xyz="0.003954999223947525 0.006455999452829361 -0.005848999999999994" rpy="0 0 0"></origin>
		</collision>
		<collision>
			<geometry>
				<sphere radius="0.015293"></sphere>
			</geometry>
			<origin xyz="-0.010346000776052475 -0.01798100054717064 -0.005849999999999994" rpy="0 0 0"></origin>
		</collision>
		<collision>
			<geometry>
				<sphere radius="0.018281"></sphere>
			</geometry>
			<origin xyz="-0.017871000776052474 0.005647999452829362 -0.005849999999999994" rpy="0 0 0"></origin>
		</collision>
		<collision>
			<geometry>
				<sphere radius="0.015634"></sphere>
			</geometry>
			<origin xyz="-0.024114000776052476 -0.01435600054717064 -0.008120999999999995" rpy="0 0 0"></origin>
		</collision>
	</link>
	<link name="Link_Lidar_Back">
		<inertial>
			<origin xyz="0.00283997852782114 0.0125654528599173 -0.0103261484034342" rpy="0 0 0"></origin>
			<mass value="0.0393714505596442"></mass>
			<inertia ixx="1.29211869218963E-05" ixy="-4.72398074752648E-07" ixz="-2.61010067974635E-08" iyy="1.24132096076578E-05" iyz="-2.11501620053375E-08" izz="2.31759864713394E-05"></inertia>
		</inertial>
		<visual>
			<origin xyz="0 0 0" rpy="0 0 0"></origin>
			<geometry>
				<mesh filename="package://meshes/Link_Lidar_Back.STL"></mesh>
			</geometry>
			<material name="">
				<color rgba="1 1 1 1"></color>
			</material>
		</visual>
		<collision>
			<geometry>
				<sphere radius="0.037538"></sphere>
			</geometry>
			<origin xyz="-0.00021290844759395446 0.006901796715744653 -0.0026540114190154005" rpy="0 0 0"></origin>
		</collision>
		<collision>
			<geometry>
				<sphere radius="0.03746"></sphere>
			</geometry>
			<origin xyz="0.0010130915524060452 -0.005889203284255344 -0.0028880114190154007" rpy="0 0 0"></origin>
		</collision>
		<collision>
			<geometry>
				<sphere radius="0.020054"></sphere>
			</geometry>
			<origin xyz="0.002410091552406046 0.05496779671574466 -0.0169750114190154" rpy="0 0 0"></origin>
		</collision>
		<collision>
			<geometry>
				<sphere radius="0.018727"></sphere>
			</geometry>
			<origin xyz="0.006743091552406046 0.08691779671574465 -0.0145100114190154" rpy="0 0 0"></origin>
		</collision>
		<collision>
			<geometry>
				<sphere radius="0.017216"></sphere>
			</geometry>
			<origin xyz="0.034428091552406045 0.08383479671574465 -0.0158880114190154" rpy="0 0 0"></origin>
		</collision>
		<collision>
			<geometry>
				<sphere radius="0.01857"></sphere>
			</geometry>
			<origin xyz="0.030487091552406045 0.05583679671574465 -0.0151470114190154" rpy="0 0 0"></origin>
		</collision>
		<collision>
			<geometry>
				<sphere radius="0.007989"></sphere>
			</geometry>
			<origin xyz="0.04222309155240605 0.12335279671574466 -0.0218460114190154" rpy="0 0 0"></origin>
		</collision>
		<collision>
			<geometry>
				<sphere radius="0.00419"></sphere>
			</geometry>
			<origin xyz="0.020303091552406047 0.11759279671574466 -0.0222120114190154" rpy="0 0 0"></origin>
		</collision>
	</link>
	<link name="Link_Lidar_Front">
		<inertial>
			<origin xyz="-0.002839978813898 -0.0125654532989012 -0.0103261483032979" rpy="0 0 0"></origin>
			<mass value="0.0393714500462311"></mass>
			<inertia ixx="1.2921186920272E-05" ixy="-4.7239807496703E-07" ixz="2.61010039931071E-08" iyy="1.24132096040167E-05" iyz="2.11501615819816E-08" izz="2.31759864709317E-05"></inertia>
		</inertial>
		<visual>
			<origin xyz="0 0 0" rpy="0 0 0"></origin>
			<geometry>
				<mesh filename="package://meshes/Link_Lidar_Front.STL"></mesh>
			</geometry>
			<material name="">
				<color rgba="1 1 1 1"></color>
			</material>
		</visual>
		<collision>
			<geometry>
				<sphere radius="0.040118"></sphere>
			</geometry>
			<origin xyz="0.00023583475478027027 0.0036128457192564703 -0.0027329691910264833" rpy="0 0 0"></origin>
		</collision>
		<collision>
			<geometry>
				<sphere radius="0.034809"></sphere>
			</geometry>
			<origin xyz="0.0006658347547802718 -0.010190154280743532 -0.005122969191026483" rpy="0 0 0"></origin>
		</collision>
		<collision>
			<geometry>
				<sphere radius="0.02072"></sphere>
			</geometry>
			<origin xyz="-0.006041165245219729 -0.05576415428074353 -0.01590896919102648" rpy="0 0 0"></origin>
		</collision>
		<collision>
			<geometry>
				<sphere radius="0.017811"></sphere>
			</geometry>
			<origin xyz="-0.006412165245219729 -0.08711415428074354 -0.014702969191026483" rpy="0 0 0"></origin>
		</collision>
		<collision>
			<geometry>
				<sphere radius="0.018507"></sphere>
			</geometry>
			<origin xyz="-0.03598816524521973 -0.06352815428074353 -0.014065969191026484" rpy="0 0 0"></origin>
		</collision>
		<collision>
			<geometry>
				<sphere radius="0.018364"></sphere>
			</geometry>
			<origin xyz="-0.02698316524521973 -0.08890815428074353 -0.016147969191026484" rpy="0 0 0"></origin>
		</collision>
		<collision>
			<geometry>
				<sphere radius="0.008008"></sphere>
			</geometry>
			<origin xyz="-0.04276116524521972 -0.12369015428074354 -0.022050969191026483" rpy="0 0 0"></origin>
		</collision>
		<collision>
			<geometry>
				<sphere radius="0.003628"></sphere>
			</geometry>
			<origin xyz="-0.01905916524521973 -0.11548215428074353 -0.021740969191026485" rpy="0 0 0"></origin>
		</collision>
	</link>
	<link name="Link_Ground_Vehicle_Visual_Cover">
		<inertial>
			<origin xyz="5.03813175097151E-05 0.198962140361411 -0.0233991728505725" rpy="0 0 0"></origin>
			<mass value="0.569688940866508"></mass>
			<inertia ixx="0.012140533672483" ixy="-1.69800921173855E-06" ixz="-6.29282321581049E-06" iyy="0.0232610035532533" iyz="-0.000347486083806363" izz="0.0120287046366284"></inertia>
		</inertial>
		<visual>
			<origin xyz="0 0 0" rpy="0 0 0"></origin>
			<geometry>
				<mesh filename="package://meshes/Link_Ground_Vehicle_Visual_Cover.STL"></mesh>
			</geometry>
			<material name="">
				<color rgba="0.698039215686274 0.698039215686274 0.698039215686274 1"></color>
			</material>
		</visual>
		<collision>
			<geometry>
				<sphere radius="0.093048"></sphere>
			</geometry>
			<origin xyz="0.1462506026917842 0.20221333699308025 0.1624094531563387" rpy="0 0 0"></origin>
		</collision>
		<collision>
			<geometry>
				<sphere radius="0.09613"></sphere>
			</geometry>
			<origin xyz="0.14673760269178418 0.21628633699308025 0.02659645315633869" rpy="0 0 0"></origin>
		</collision>
		<collision>
			<geometry>
				<sphere radius="0.088961"></sphere>
			</geometry>
			<origin xyz="0.1498286026917842 0.20633333699308024 -0.09757154684366132" rpy="0 0 0"></origin>
		</collision>
		<collision>
			<geometry>
				<sphere radius="0.098714"></sphere>
			</geometry>
			<origin xyz="0.0998906026917842 0.17863433699308023 -0.22701454684366132" rpy="0 0 0"></origin>
		</collision>
		<collision>
			<geometry>
				<sphere radius="0.098635"></sphere>
			</geometry>
			<origin xyz="-0.0843753973082158 0.17601833699308023 -0.2338075468436613" rpy="0 0 0"></origin>
		</collision>
		<collision>
			<geometry>
				<sphere radius="0.095065"></sphere>
			</geometry>
			<origin xyz="-0.15005339730821582 0.20192933699308024 -0.10963954684366131" rpy="0 0 0"></origin>
		</collision>
		<collision>
			<geometry>
				<sphere radius="0.097899"></sphere>
			</geometry>
			<origin xyz="-0.1446603973082158 0.21987933699308024 0.02247745315633869" rpy="0 0 0"></origin>
		</collision>
		<collision>
			<geometry>
				<sphere radius="0.095803"></sphere>
			</geometry>
			<origin xyz="-0.1490653973082158 0.19861333699308023 0.1605694531563387" rpy="0 0 0"></origin>
		</collision>
	</link>
	<joint name="Joint_Ground_Vehicle_Z" type="fixed">
		<origin xyz="0 0 0" rpy="1.5707963267949 0 -1.57079632679516"></origin>
		<parent link="Link_Zero_Point"></parent>
		<child link="Link_Ground_Vehicle_Z"></child>
		<axis xyz="0 0 0"></axis>
		<limit lower="-3.145" upper="3.145" effort="20" velocity="0.1"></limit>
	</joint>
	<joint name="Joint_Ankle" type="revolute">
		<origin xyz="0 0.27 0" rpy="1.5708 0 1.5708"></origin>
		<parent link="Link_Ground_Vehicle_Z"></parent>
		<child link="Link_Ankle_to_Knee"></child>
		<axis xyz="0 0 -1"></axis>
		<limit lower="-1.5708" upper="1.5708" effort="150" velocity="1"></limit>
	</joint>
	<joint name="Joint_Knee" type="revolute">
		<origin xyz="0.3495 0 0" rpy="0 0 0"></origin>
		<parent link="Link_Ankle_to_Knee"></parent>
		<child link="Link_Knee_to_Waist_Pitch"></child>
		<axis xyz="0 0 1"></axis>
		<limit lower="-3.14" upper="3.14" effort="150" velocity="1"></limit>
	</joint>
	<joint name="Joint_Waist_Pitch" type="revolute">
		<origin xyz="0.3705 0 0" rpy="0 0 0"></origin>
		<parent link="Link_Knee_to_Waist_Pitch"></parent>
		<child link="Link_Waist_Pitch_to_Waist_Yaw"></child>
		<axis xyz="0 0 -1"></axis>
		<limit lower="-3" upper="3" effort="98" velocity="1"></limit>
	</joint>
	<joint name="Joint_Waist_Yaw" type="revolute">
		<origin xyz="0.06643 0 0" rpy="-1.5708 0 -1.5708"></origin>
		<parent link="Link_Waist_Pitch_to_Waist_Yaw"></parent>
		<child link="Link_Waist_Yaw_to_Shoulder_Inner"></child>
		<axis xyz="0 0 1"></axis>
		<limit lower="-3.141" upper="3.141" effort="66" velocity="1"></limit>
	</joint>
	<joint name="Joint_Left_Shoulder_Inner" type="revolute">
		<origin xyz="0 0.1311 0.25157" rpy="-1.5708 0 0"></origin>
		<parent link="Link_Waist_Yaw_to_Shoulder_Inner"></parent>
		<child link="Link_Left_Shoulder_Inner_to_Shoulder_Outer"></child>
		<axis xyz="0 0 -1"></axis>
		<limit lower="-2.6179" upper="3.141" effort="21" velocity="1"></limit>
	</joint>
	<joint name="Joint_Left_Shoulder_Outer" type="revolute">
		<origin xyz="0.02825 0 0.074" rpy="1.5708 0 1.5708"></origin>
		<parent link="Link_Left_Shoulder_Inner_to_Shoulder_Outer"></parent>
		<child link="Link_Left_Shoulder_Outer_to_UpperArm"></child>
		<axis xyz="0 0 1"></axis>
		<limit lower="-0.349" upper="3.1415" effort="18" velocity="1"></limit>
	</joint>
	<joint name="Joint_Left_UpperArm" type="revolute">
		<origin xyz="0.1105 0.011 -0.02825" rpy="0 -1.5708 3.1415"></origin>
		<parent link="Link_Left_Shoulder_Outer_to_UpperArm"></parent>
		<child link="Link_Left_UpperArm_to_Elbow"></child>
		<axis xyz="0 0 -1"></axis>
		<limit lower="-2.9322" upper="2.9322" effort="15" velocity="1"></limit>
	</joint>
	<joint name="Joint_Left_Elbow" type="revolute">
		<origin xyz="0.025 0.02925 0.1761" rpy="0 -1.5708 -1.5708"></origin>
		<parent link="Link_Left_UpperArm_to_Elbow"></parent>
		<child link="Link_Left_Elbow_to_Forearm"></child>
		<axis xyz="0 0 1"></axis>
		<limit lower="-0.0524" upper="2.6179" effort="12" velocity="1"></limit>
	</joint>
	<joint name="Joint_Left_Forearm" type="revolute">
		<origin xyz="0.1055 -0.025 -0.02925" rpy="1.5708 0 1.5708"></origin>
		<parent link="Link_Left_Elbow_to_Forearm"></parent>
		<child link="Link_Left_Forearm_to_Wrist_Upper"></child>
		<axis xyz="0 0 1"></axis>
		<limit lower="-2.8798" upper="2.8798" effort="9" velocity="1"></limit>
	</joint>
	<joint name="Joint_Left_Wrist_Upper" type="revolute">
		<origin xyz="0.0321 0.00036292 0.045" rpy="0 -1.5708 3.1415"></origin>
		<parent link="Link_Left_Forearm_to_Wrist_Upper"></parent>
		<child link="Link_Left_Wrist_Upper_to_Wrist_Lower"></child>
		<axis xyz="0 0 -1"></axis>
		<limit lower="-1.57" upper="1.57" effort="6" velocity="1"></limit>
	</joint>
	<joint name="Joint_Left_Wrist_Lower" type="revolute">
		<origin xyz="0.0552 0.0321 -0.0321" rpy="-1.5708 0 0"></origin>
		<parent link="Link_Left_Wrist_Upper_to_Wrist_Lower"></parent>
		<child link="Link_Left_Wrist_Lower_to_Gripper"></child>
		<axis xyz="0 0 1"></axis>
		<limit lower="-1.4138" upper="1.4138" effort="3" velocity="1"></limit>
	</joint>
	<joint name="Joint_Camera_Gripper_Left" type="fixed">
		<origin xyz="0.144 0 -0.031737" rpy="0 -1.5708 3.1415"></origin>
		<parent link="Link_Left_Wrist_Lower_to_Gripper"></parent>
		<child link="Link_Camera_Gripper_Left"></child>
		<axis xyz="0 0 0"></axis>
	</joint>
	<joint name="Joint_Left_Gripper" type="fixed">
		<origin xyz="0.10148 -0.011 -0.0011371" rpy="1.5708 -1.5708 0"></origin>
		<parent link="Link_Left_Wrist_Lower_to_Gripper"></parent>
		<child link="Link_Left_Gripper"></child>
		<axis xyz="0 0 1"></axis>
		<limit lower="-1.333" upper="1" effort="2" velocity="1"></limit>
	</joint>
	<joint name="Joint_Left_Gripper_Left_Inner_Knuckle" type="fixed">
		<origin xyz="0.10799 -0.011 -0.019037" rpy="1.5708 -1.5708 0"></origin>
		<parent link="Link_Left_Wrist_Lower_to_Gripper"></parent>
		<child link="Link_Left_Gripper_Left_Inner_Knuckle"></child>
		<axis xyz="0 0 1"></axis>
		<limit lower="-1" upper="1" effort="2" velocity="1"></limit>
		<mimic joint="Joint_Left_Gripper" multiplier="1" offset="0"></mimic>
	</joint>
	<joint name="Joint_Left_Gripper_Left_Finger" type="fixed">
		<origin xyz="-0.0032202 -0.057059 -0.0029" rpy="0 0 0"></origin>
		<parent link="Link_Left_Gripper_Left_Inner_Knuckle"></parent>
		<child link="Joint_Left_Gripper_Left_Finger"></child>
		<axis xyz="0 0 1"></axis>
		<limit lower="-1" upper="1" effort="2" velocity="1"></limit>
		<mimic joint="Joint_Left_Gripper" multiplier="-1" offset="0"></mimic>
	</joint>
	<joint name="Joint_Left_Gripper_Right_Outer_Knuckle" type="fixed">
		<origin xyz="0.10148 -0.011 -0.062337" rpy="1.5708 -1.5708 0"></origin>
		<parent link="Link_Left_Wrist_Lower_to_Gripper"></parent>
		<child link="Link_Left_Gripper_Right_Outer_Knuckle"></child>
		<axis xyz="0 0 1"></axis>
		<limit lower="-1" upper="1" effort="2" velocity="1"></limit>
		<mimic joint="Joint_Left_Gripper" multiplier="-1" offset="0"></mimic>
	</joint>
	<joint name="Joint_Left_Gripper_Right_Inner_Knuckle" type="fixed">
		<origin xyz="0.10799 -0.011 -0.044437" rpy="1.5708 -1.5708 0"></origin>
		<parent link="Link_Left_Wrist_Lower_to_Gripper"></parent>
		<child link="Link_Left_Gripper_Right_Inner_Knuckle"></child>
		<axis xyz="0 0 1"></axis>
		<limit lower="-1" upper="1" effort="2" velocity="1"></limit>
		<mimic joint="Joint_Left_Gripper" multiplier="-1" offset="0"></mimic>
	</joint>
	<joint name="Joint_Left_Gripper_Right_Finger" type="fixed">
		<origin xyz="0.0032202 -0.057059 -0.0029" rpy="0 0 0"></origin>
		<parent link="Link_Left_Gripper_Right_Inner_Knuckle"></parent>
		<child link="Link_Left_Gripper_Right_Finger"></child>
		<axis xyz="0 0 1"></axis>
		<limit lower="-1" upper="1" effort="2" velocity="1"></limit>
		<mimic joint="Joint_Left_Gripper" multiplier="1" offset="0"></mimic>
	</joint>
	<joint name="Joint_Right_Shoulder_Inner" type="revolute">
		<origin xyz="0 -0.1311 0.25157" rpy="1.5708 0 0"></origin>
		<parent link="Link_Waist_Yaw_to_Shoulder_Inner"></parent>
		<child link="Link_Right_Shoulder_Inner_to_Shoulder_Outer"></child>
		<axis xyz="0 0 -1"></axis>
		<limit lower="-2.6179" upper="3.141" effort="21" velocity="1"></limit>
	</joint>
	<joint name="Joint_Right_Shoulder_Outer" type="revolute">
		<origin xyz="0.02825 0 0.074" rpy="-1.5708 0 -1.5708"></origin>
		<parent link="Link_Right_Shoulder_Inner_to_Shoulder_Outer"></parent>
		<child link="Link_Right_Shoulder_Outer_to_UpperArm"></child>
		<axis xyz="0 0 1"></axis>
		<limit lower="-3.1415" upper="0.349" effort="18" velocity="1"></limit>
	</joint>
	<joint name="Joint_Right_UpperArm" type="revolute">
		<origin xyz="0.1105 -0.011 -0.02825" rpy="3.1415 -1.5708 0"></origin>
		<parent link="Link_Right_Shoulder_Outer_to_UpperArm"></parent>
		<child link="Link_Right_UpperArm_to_Elbow"></child>
		<axis xyz="0 0 -1"></axis>
		<limit lower="-2.9322" upper="2.9322" effort="15" velocity="1"></limit>
	</joint>
	<joint name="Joint_Right_Elbow" type="revolute">
		<origin xyz="0.025 0.03075 0.1761" rpy="0 -1.5708 -1.5708"></origin>
		<parent link="Link_Right_UpperArm_to_Elbow"></parent>
		<child link="Link_Right_Elbow_to_Forearm"></child>
		<axis xyz="0 0 -1"></axis>
		<limit lower="-2.6179" upper="0.0524" effort="12" velocity="1"></limit>
	</joint>
	<joint name="Joint_Right_Forearm" type="revolute">
		<origin xyz="0.1055 -0.025 -0.03075" rpy="1.5708 0 1.5708"></origin>
		<parent link="Link_Right_Elbow_to_Forearm"></parent>
		<child link="Link_Right_Forearm_to_Wrist_Upper"></child>
		<axis xyz="0 0 1"></axis>
		<limit lower="-2.8798" upper="2.8798" effort="9" velocity="1"></limit>
	</joint>
	<joint name="Joint_Right_Wrist_Upper" type="revolute">
		<origin xyz="0.0321 -0.00036285 0.045" rpy="3.1415 -1.5708 0"></origin>
		<parent link="Link_Right_Forearm_to_Wrist_Upper"></parent>
		<child link="Link_Right_Wrist_Upper_to_Wrist_Lower "></child>
		<axis xyz="0 0 -1"></axis>
		<limit lower="-1.57" upper="1.57" effort="6" velocity="1"></limit>
	</joint>
	<joint name="Joint_Right_Wrist_Lower" type="revolute">
		<origin xyz="0.0552 0.0321 -0.0321" rpy="-1.5708 0 0"></origin>
		<parent link="Link_Right_Wrist_Upper_to_Wrist_Lower "></parent>
		<child link="Link_Right_Wrist_Lower_to_Gripper"></child>
		<axis xyz="0 0 1"></axis>
		<limit lower="-1.4138" upper="1.4138" effort="3" velocity="1"></limit>
	</joint>
	<joint name="Joint_Camera_Gripper_Right" type="fixed">
		<origin xyz="0.144 0 -0.032463" rpy="0 -1.5708 3.1415"></origin>
		<parent link="Link_Right_Wrist_Lower_to_Gripper"></parent>
		<child link="Link_Camera_Gripper_Right"></child>
		<axis xyz="0 0 0"></axis>
	</joint>
	<joint name="Joint_Right_Gripper" type="fixed">
		<origin xyz="0.10148 -0.011 -0.0018628" rpy="1.5708 -1.5708 0"></origin>
		<parent link="Link_Right_Wrist_Lower_to_Gripper"></parent>
		<child link="Link_Right_Gripper"></child>
		<axis xyz="0 0 1"></axis>
		<limit lower="-1.333" upper="1" effort="2" velocity="1"></limit>
	</joint>
	<joint name="Joint_Right_Gripper_Left_Inner_Knuckle" type="fixed">
		<origin xyz="0.10799 -0.011 -0.019763" rpy="1.5708 -1.5708 0"></origin>
		<parent link="Link_Right_Wrist_Lower_to_Gripper"></parent>
		<child link="Link_Right_Gripper_Left_Inner_Knuckle"></child>
		<axis xyz="0 0 1"></axis>
		<limit lower="-1" upper="1" effort="2" velocity="1"></limit>
		<mimic joint="Joint_Right_Gripper" multiplier="1" offset="0"></mimic>
	</joint>
	<joint name="Joint_Right_Gripper_Left_Finger" type="fixed">
		<origin xyz="-0.0032202 -0.057059 -0.0029" rpy="0 0 0"></origin>
		<parent link="Link_Right_Gripper_Left_Inner_Knuckle"></parent>
		<child link="Link_Right_Gripper_Left_Finger"></child>
		<axis xyz="0 0 1"></axis>
		<limit lower="-1" upper="1" effort="2" velocity="1"></limit>
		<mimic joint="Joint_Right_Gripper" multiplier="-1" offset="0"></mimic>
	</joint>
	<joint name="Joint_Right_Gripper_Right_Outer_Knuckle" type="fixed">
		<origin xyz="0.10148 -0.011 -0.063063" rpy="1.5708 -1.5708 0"></origin>
		<parent link="Link_Right_Wrist_Lower_to_Gripper"></parent>
		<child link="Link_Right_Gripper_Right_Outer_Knuckle"></child>
		<axis xyz="0 0 1"></axis>
		<limit lower="-1" upper="1" effort="2" velocity="1"></limit>
		<mimic joint="Joint_Right_Gripper" multiplier="-1" offset="0"></mimic>
	</joint>
	<joint name="Joint_Right_Gripper_Right_Inner_Knuckle" type="fixed">
		<origin xyz="0.10799 -0.011 -0.045163" rpy="1.5708 -1.5708 0"></origin>
		<parent link="Link_Right_Wrist_Lower_to_Gripper"></parent>
		<child link="Link_Right_Gripper_Right_Inner_Knuckle"></child>
		<axis xyz="0 0 1"></axis>
		<limit lower="-1" upper="1" effort="2" velocity="1"></limit>
		<mimic joint="Joint_Right_Gripper" multiplier="-1" offset="0"></mimic>
	</joint>
	<joint name="Joint_Right_Gripper_Right_Finger" type="fixed">
		<origin xyz="0.0032202 -0.057059 -0.0029" rpy="0 0 0"></origin>
		<parent link="Link_Right_Gripper_Right_Inner_Knuckle"></parent>
		<child link="Link_Right_Gripper_Right_Finger"></child>
		<axis xyz="0 0 1"></axis>
		<limit lower="-1" upper="1" effort="2" velocity="1"></limit>
		<mimic joint="Joint_Right_Gripper" multiplier="1" offset="0"></mimic>
	</joint>
	<joint name="Joint_Camera_Head_Back" type="fixed">
		<origin xyz="-0.0805947420151883 0 0.479275977050066" rpy="1.78023583703347 0 -1.57079633558566"></origin>
		<parent link="Link_Waist_Yaw_to_Shoulder_Inner"></parent>
		<child link="Link_Camera_Head_Back"></child>
		<axis xyz="0 0 0"></axis>
	</joint>
	<joint name="Joint_Camera_Head_Right_Eye" type="fixed">
		<origin xyz="0.0901048231723684 -0.0315000007465771 0.495336903561719" rpy="1.65806278939535 0 1.57079631752076"></origin>
		<parent link="Link_Waist_Yaw_to_Shoulder_Inner"></parent>
		<child link="Link_Camera_Head_Right_Eye"></child>
		<axis xyz="0 0 0"></axis>
	</joint>
	<joint name="Joint_Camera_Head_Left_Eye" type="fixed">
		<origin xyz="0.0901048237477598 0.031499999253423 0.495336903460226" rpy="1.65806278939535 0 1.57079631752076"></origin>
		<parent link="Link_Waist_Yaw_to_Shoulder_Inner"></parent>
		<child link="Link_Camera_Head_Left_Eye"></child>
		<axis xyz="0 0 0"></axis>
	</joint>
	<joint name="Joint_Mask" type="fixed">
		<origin xyz="-0.0428574426734296 1.96731518201515E-05 0.391365544112642" rpy="2.96705972838954 0 -1.5707963267949"></origin>
		<parent link="Link_Waist_Yaw_to_Shoulder_Inner"></parent>
		<child link="Link_Mask"></child>
		<axis xyz="0 0 0"></axis>
	</joint>
	<joint name="Joint_Chest_Front_Cover" type="fixed">
		<origin xyz="0.0482644434006438 -0.102712228594056 -0.150180188902497" rpy="3.14159265358979 0 1.5707963267949"></origin>
		<parent link="Link_Waist_Yaw_to_Shoulder_Inner"></parent>
		<child link="Link_Chest_Front_Cover"></child>
		<axis xyz="0 0 0"></axis>
	</joint>
	<joint name="Joint_Chest_Back_Cover" type="fixed">
		<origin xyz="0.0482644434006438 -0.102712228594056 -0.150180188902497" rpy="3.14159265358979 0 1.5707963267949"></origin>
		<parent link="Link_Waist_Yaw_to_Shoulder_Inner"></parent>
		<child link="Link_Chest_Back_Cover"></child>
		<axis xyz="0 0 0"></axis>
	</joint>
	<joint name="Joint_Camera_Chest" type="fixed">
		<origin xyz="0.0553284685822616 0 0.299416237004018" rpy="1.7453292519943 0 1.57079632679775"></origin>
		<parent link="Link_Waist_Yaw_to_Shoulder_Inner"></parent>
		<child link="Link_Camera_Chest"></child>
		<axis xyz="0 0 0"></axis>
	</joint>
	<joint name="Joint_Knee_Black_Cover" type="fixed">
		<origin xyz="0.3705 0 0" rpy="0 0 0"></origin>
		<parent link="Link_Knee_to_Waist_Pitch"></parent>
		<child link="Link_Knee_Black_Cover"></child>
		<axis xyz="0 0 0"></axis>
	</joint>
	<joint name="Joint_IMU" type="fixed">
		<origin xyz="0 0.1987 0" rpy="1.5707963267949 0 3.14159265358979"></origin>
		<parent link="Link_Ground_Vehicle_Z"></parent>
		<child link="Link_IMU"></child>
		<axis xyz="0 0 0"></axis>
	</joint>
	<joint name="Joint_Lidar_Back" type="fixed">
		<origin xyz="0 0.1515 0.215" rpy="-1.5707963267949 0 3.14159265358979"></origin>
		<parent link="Link_Ground_Vehicle_Z"></parent>
		<child link="Link_Lidar_Back"></child>
		<axis xyz="0 0 0"></axis>
	</joint>
	<joint name="Joint_Lidar_Front" type="fixed">
		<origin xyz="0 0.151499999999971 -0.215" rpy="-1.57079632679489 0 3.14159265358979"></origin>
		<parent link="Link_Ground_Vehicle_Z"></parent>
		<child link="Link_Lidar_Front"></child>
		<axis xyz="0 0 0"></axis>
	</joint>
	<joint name="Joint_Ground_Vehicle_Visual_Cover" type="fixed">
		<origin xyz="0 0 0" rpy="0 0 0"></origin>
		<parent link="Link_Ground_Vehicle_Z"></parent>
		<child link="Link_Ground_Vehicle_Visual_Cover"></child>
		<axis xyz="0 0 0"></axis>
	</joint>
</robot>
